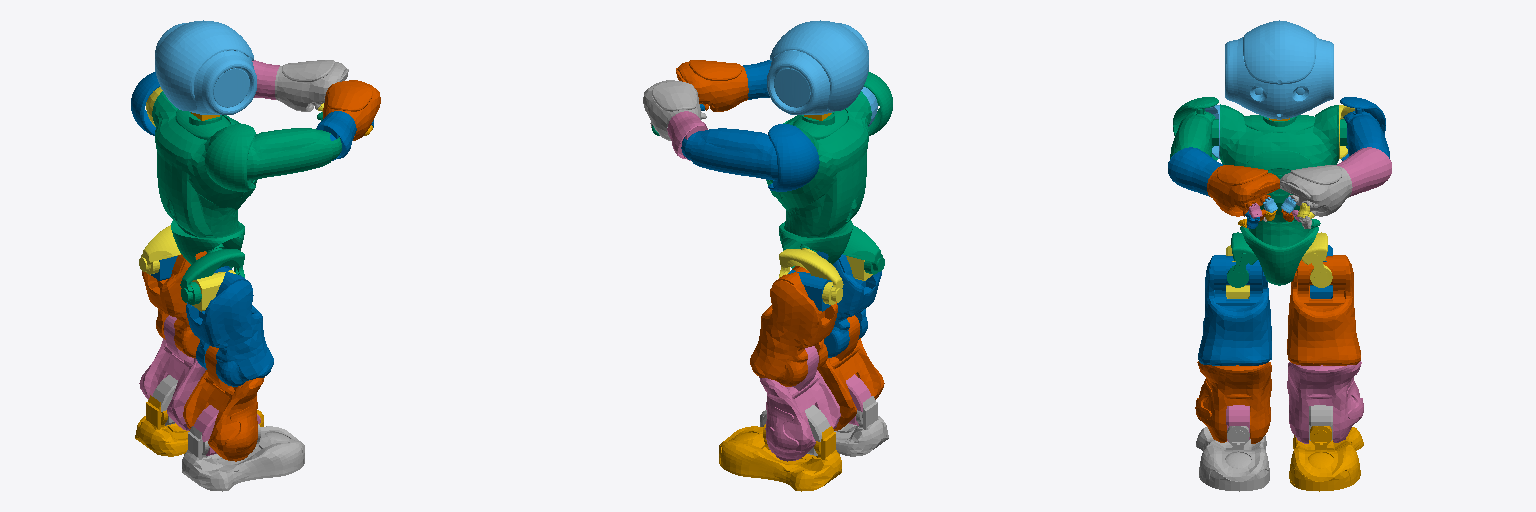
--- Facts derived from the render (not from the file) ---
3 views of the same robot in one strip: view 1: azimuth 30°, elevation 25°; view 2: azimuth 150°, elevation 25°; view 3: azimuth 270°, elevation 25° (orthographic).
Model NaoH25V50 with 79 links and 78 joints (42 revolute, 36 fixed), rooted at base_link, posed joints at zero except 2 at the middle of their limits (LElbowRoll = -0.7898, RElbowRoll = 0.7898).
Visible links, largest first — view 1: torso, Head, RBicep, RThigh, r_ankle, RTibia, LTibia, l_wrist, LThigh, r_wrist, l_ankle, RPelvis (+7 smaller); view 2: torso, Head, LBicep, LThigh, l_ankle, LTibia, RTibia, r_wrist, RThigh, l_wrist, r_ankle, LPelvis (+7 smaller); view 3: torso, Head, LThigh, RThigh, RTibia, LTibia, l_ankle, r_ankle, l_wrist, r_wrist, LBicep, RBicep (+5 smaller).
Boxes of the visible links, box(x1,y1,x2,y2) form: torso: box(152, 91, 256, 268); Head: box(155, 20, 256, 114); RBicep: box(205, 124, 341, 191); RThigh: box(186, 266, 273, 386); r_ankle: box(182, 424, 304, 491); RTibia: box(183, 346, 264, 461); LTibia: box(139, 315, 205, 430); l_wrist: box(275, 60, 348, 111); LThigh: box(142, 251, 206, 357); r_wrist: box(323, 80, 380, 140); l_ankle: box(135, 395, 263, 456); RPelvis: box(180, 248, 244, 304); torso: box(766, 91, 871, 268); Head: box(767, 20, 868, 114); LBicep: box(681, 124, 819, 191); LThigh: box(750, 266, 837, 386); l_ankle: box(719, 424, 841, 491); LTibia: box(759, 346, 840, 461); RTibia: box(818, 315, 884, 430); r_wrist: box(676, 60, 748, 111); RThigh: box(817, 251, 881, 357); l_wrist: box(643, 80, 700, 140); r_ankle: box(760, 396, 888, 456); LPelvis: box(779, 248, 843, 304); torso: box(1212, 104, 1347, 285); Head: box(1225, 20, 1333, 119); LThigh: box(1287, 255, 1360, 365); RThigh: box(1198, 255, 1271, 365); RTibia: box(1195, 361, 1271, 443); LTibia: box(1287, 361, 1363, 443); l_ankle: box(1289, 426, 1363, 491); r_ankle: box(1196, 426, 1269, 491); l_wrist: box(1280, 165, 1352, 216); r_wrist: box(1207, 165, 1279, 216); LBicep: box(1340, 97, 1389, 160); RBicep: box(1170, 97, 1218, 160).
Size in the robot's own frame: 0.2792 by 0.2719 by 0.5738 metres.
Meshes: 39 distinct files referenced, 39 mesh visuals loaded (39 Collada DAE).

URDF robot description (NaoH25V50):
<?xml version="1.0" ?>
<!-- =================================================================================== -->
<!-- |    This document was autogenerated by xacro from nao_robot.xacro                | -->
<!-- |    EDITING THIS FILE BY HAND IS NOT RECOMMENDED                                 | -->
<!-- =================================================================================== -->
<!--******************************************************************
 ****** File automatically generated by generate_urdf.py script ******
 *********************************************************************-->
<robot name="NaoH25V50" locomotion="bipedal" xmlns:xacro="http://www.ros.org/wiki/xacro">
  <joint name="HeadYaw" type="revolute">
    <parent link="torso"/>
    <child link="Neck"/>
    <origin rpy="0 0 0" xyz="0 0 0.1265"/>
    <axis xyz="0 0 1.0"/>
    <limit effort="1.547" lower="-2.08567" upper="2.08567" velocity="8.26797"/>
    <bow tags="gaze" rotation="z"/>
  </joint>
  <link name="Neck">
    <inertial>
      <mass value="0.07842"/>
      <inertia ixx="1.60324e-05" ixy="1.57e-09" ixz="3.16276e-09" iyy="1.70394e-05" iyz="-5.295e-08" izz="5.53372e-06"/>
      <origin rpy="0 0 0" xyz="-1e-05 0 -0.02742"/>
    </inertial>
    <visual>
      <geometry>
        <mesh filename="package://nao_meshes/meshes/V40/HeadYaw.dae" scale="1.0 1.0 1.0"/>
      </geometry>
      <origin rpy="0 0 0" xyz="0 0 0"/>
    </visual>
    <collision>
      <geometry>
        <mesh filename="package://nao_meshes/meshes/V40/HeadYaw_0.10.stl" scale="1.0 1.0 1.0"/>
      </geometry>
      <origin rpy="0 0 0" xyz="0 0 0"/>
    </collision>
  </link>
  <joint name="HeadPitch" type="revolute">
    <parent link="Neck"/>
    <child link="Head"/>
    <origin rpy="0 0 0" xyz="0 0 0"/>
    <axis xyz="0 1.0 0"/>
    <limit effort="1.532" lower="-0.671952" upper="0.514872" velocity="7.19407"/>
    <bow tags="gaze" rotation="y"/>
  </joint>
  <link name="Head">
    <inertial>
      <mass value="0.60533"/>
      <inertia ixx="0.000957766" ixy="8.78814e-06" ixz="5.33702e-06" iyy="0.000816836" iyz="-2.99579e-05" izz="0.000984976"/>
      <origin rpy="0 0 0" xyz="-0.00112 0 0.05258"/>
    </inertial>
    <visual>
      <geometry>
        <mesh filename="package://nao_meshes/meshes/V40/HeadPitch.dae" scale="1.0 1.0 1.0"/>
      </geometry>
      <origin rpy="0 0 0" xyz="0 0 0"/>
    </visual>
    <collision>
      <geometry>
        <mesh filename="package://nao_meshes/meshes/V40/HeadPitch_0.10.stl" scale="1.0 1.0 1.0"/>
      </geometry>
      <origin rpy="0 0 0" xyz="0 0 0"/>
    </collision>
  </link>
  <joint name="gaze_joint" type="fixed">
    <parent link="Head"/>
    <child link="gaze"/>
    <origin rpy="0 0 0" xyz="0.05871 0 0.06364"/>
  </joint>
  <link name="gaze"/>
  <joint name="LHipYawPitch" type="revolute">
    <parent link="torso"/>
    <child link="LPelvis"/>
    <origin rpy="0 0 0" xyz="0 0.05 -0.085"/>
    <axis xyz="0 0.707106 -0.707106"/>
    <limit effort="3.348" lower="-1.14529" upper="0.740718" velocity="4.16174"/>
  </joint>
  <link name="LPelvis">
    <inertial>
      <mass value="0.06981"/>
      <inertia ixx="2.3407e-05" ixy="1.07922e-06" ixz="-1.76003e-06" iyy="4.76355e-05" iyz="2.76058e-06" izz="4.97021e-05"/>
      <origin rpy="0 0 0" xyz="-0.00781 -0.01114 0.02661"/>
    </inertial>
    <visual>
      <geometry>
        <mesh filename="package://nao_meshes/meshes/V40/LHipYawPitch.dae" scale="1.0 1.0 1.0"/>
      </geometry>
      <origin rpy="0 0 0" xyz="0 0 0"/>
    </visual>
    <collision>
      <geometry>
        <mesh filename="package://nao_meshes/meshes/V40/LHipYawPitch_0.10.stl" scale="1.0 1.0 1.0"/>
      </geometry>
      <origin rpy="0 0 0" xyz="0 0 0"/>
    </collision>
  </link>
  <joint name="LHipRoll" type="revolute">
    <parent link="LPelvis"/>
    <child link="LHip"/>
    <origin rpy="0 0 0" xyz="0 0 0"/>
    <axis xyz="1.0 0 0"/>
    <limit effort="3.348" lower="-0.379435" upper="0.79046" velocity="4.16174"/>
  </joint>
  <link name="LHip">
    <inertial>
      <mass value="0.14053"/>
      <inertia ixx="2.38445e-05" ixy="-6.53605e-07" ixz="7.12893e-06" iyy="6.08246e-05" iyz="-2.14072e-07" izz="5.43691e-05"/>
      <origin rpy="0 0 0" xyz="-0.01549 0.00029 -0.00515"/>
    </inertial>
    <visual>
      <geometry>
        <mesh filename="package://nao_meshes/meshes/V40/LHipRoll.dae" scale="1.0 1.0 1.0"/>
      </geometry>
      <origin rpy="0 0 0" xyz="0 0 0"/>
    </visual>
    <collision>
      <geometry>
        <mesh filename="package://nao_meshes/meshes/V40/LHipRoll_0.10.stl" scale="1.0 1.0 1.0"/>
      </geometry>
      <origin rpy="0 0 0" xyz="0 0 0"/>
    </collision>
  </link>
  <joint name="LHipPitch" type="revolute">
    <parent link="LHip"/>
    <child link="LThigh"/>
    <origin rpy="0 0 0" xyz="0 0 0"/>
    <axis xyz="0 1.0 0"/>
    <limit effort="3.023" lower="-1.53589" upper="0.48398" velocity="6.40239"/>
  </joint>
  <link name="LThigh">
    <inertial>
      <mass value="0.38968"/>
      <inertia ixx="0.000509844" ixy="2.11296e-06" ixz="5.64129e-05" iyy="0.000465358" iyz="-7.91029e-06" izz="0.000301098"/>
      <origin rpy="0 0 0" xyz="0.00138 0.00221 -0.05373"/>
    </inertial>
    <visual>
      <geometry>
        <mesh filename="package://nao_meshes/meshes/V40/LHipPitch.dae" scale="1.0 1.0 1.0"/>
      </geometry>
      <origin rpy="0 0 0" xyz="0 0 0"/>
    </visual>
    <collision>
      <geometry>
        <mesh filename="package://nao_meshes/meshes/V40/LHipPitch_0.10.stl" scale="1.0 1.0 1.0"/>
      </geometry>
      <origin rpy="0 0 0" xyz="0 0 0"/>
    </collision>
  </link>
  <joint name="LKneePitch" type="revolute">
    <parent link="LThigh"/>
    <child link="LTibia"/>
    <origin rpy="0 0 0" xyz="0 0 -0.1"/>
    <axis xyz="0 1.0 0"/>
    <limit effort="3.023" lower="-0.0923279" upper="2.11255" velocity="6.40239"/>
  </joint>
  <link name="LTibia">
    <inertial>
      <mass value="0.30142"/>
      <inertia ixx="0.000446171" ixy="3.70584e-06" ixz="-3.09008e-05" iyy="0.000388084" iyz="6.01953e-06" izz="0.000185516"/>
      <origin rpy="0 0 0" xyz="0.00453 0.00225 -0.04936"/>
    </inertial>
    <visual>
      <geometry>
        <mesh filename="package://nao_meshes/meshes/V40/LKneePitch.dae" scale="1.0 1.0 1.0"/>
      </geometry>
      <origin rpy="0 0 0" xyz="0 0 0"/>
    </visual>
    <collision>
      <geometry>
        <mesh filename="package://nao_meshes/meshes/V40/LKneePitch_0.10.stl" scale="1.0 1.0 1.0"/>
      </geometry>
      <origin rpy="0 0 0" xyz="0 0 0"/>
    </collision>
  </link>
  <joint name="LAnklePitch" type="revolute">
    <parent link="LTibia"/>
    <child link="LAnklePitch"/>
    <origin rpy="0 0 0" xyz="0 0 -0.1029"/>
    <axis xyz="0 1.0 0"/>
    <limit effort="3.023" lower="-1.18944" upper="0.922581" velocity="6.40239"/>
  </joint>
  <link name="LAnklePitch">
    <inertial>
      <mass value="0.13416"/>
      <inertia ixx="3.22034e-05" ixy="-8.83212e-09" ixz="4.27549e-06" iyy="6.7943e-05" iyz="2.84849e-07" izz="5.48269e-05"/>
      <origin rpy="0 0 0" xyz="0.00045 0.00029 0.00685"/>
    </inertial>
    <visual>
      <geometry>
        <mesh filename="package://nao_meshes/meshes/V40/LAnklePitch.dae" scale="1.0 1.0 1.0"/>
      </geometry>
      <origin rpy="0 0 0" xyz="0 0 0"/>
    </visual>
    <collision>
      <geometry>
        <mesh filename="package://nao_meshes/meshes/V40/LAnklePitch_0.10.stl" scale="1.0 1.0 1.0"/>
      </geometry>
      <origin rpy="0 0 0" xyz="0 0 0"/>
    </collision>
  </link>
  <joint name="LAnkleRoll" type="revolute">
    <parent link="LAnklePitch"/>
    <child link="l_ankle"/>
    <origin rpy="0 0 0" xyz="0 0 0"/>
    <axis xyz="1.0 0 0"/>
    <limit effort="3.348" lower="-0.397761" upper="0.768992" velocity="4.16174"/>
  </joint>
  <link name="l_ankle" contact="foot">
    <inertial>
      <mass value="0.17184"/>
      <inertia ixx="8.72911e-05" ixy="8.71925e-06" ixz="-2.10563e-06" iyy="0.000353024" iyz="3.73459e-07" izz="0.000412846"/>
      <origin rpy="0 0 0" xyz="0.02542 0.0033 -0.03239"/>
    </inertial>
    <visual>
      <geometry>
        <mesh filename="package://nao_meshes/meshes/V40/LAnkleRoll.dae" scale="1.0 1.0 1.0"/>
      </geometry>
      <origin rpy="0 0 0" xyz="0 0 0"/>
    </visual>
    <collision>
      <geometry>
        <mesh filename="package://nao_meshes/meshes/V40/LAnkleRoll_0.10.stl" scale="1.0 1.0 1.0"/>
      </geometry>
      <origin rpy="0 0 0" xyz="0 0 0"/>
    </collision>
  </link>
  <joint name="LLeg_effector_fixedjoint" type="fixed">
    <parent link="l_ankle"/>
    <child link="l_sole"/>
    <origin rpy="0 0 0" xyz="0 0 -0.04511"/>
    <axis xyz="0 0 0"/>
  </joint>
  <link name="l_sole">
  	<bow tags="effector"/>
  </link>
  <joint name="RHipYawPitch" type="revolute">
    <parent link="torso"/>
    <child link="RPelvis"/>
    <origin rpy="0 0 0" xyz="0 -0.05 -0.085"/>
    <axis xyz="0 0.707106 0.707106"/>
    <limit effort="3.348" lower="-1.14529" upper="0.740718" velocity="4.16174"/>
    <mimic joint="LHipYawPitch" multiplier="1.0" offset="0"/>
  </joint>
  <link name="RPelvis">
    <inertial>
      <mass value="0.06981"/>
      <inertia ixx="3.18766e-05" ixy="-1.07152e-06" ixz="-1.77295e-06" iyy="5.18361e-05" iyz="-7.00664e-06" izz="5.39657e-05"/>
      <origin rpy="0 0 0" xyz="-0.00781 0.01114 0.02661"/>
    </inertial>
    <visual>
      <geometry>
        <mesh filename="package://nao_meshes/meshes/V40/RHipYawPitch.dae" scale="1.0 1.0 1.0"/>
      </geometry>
      <origin rpy="0 0 0" xyz="0 0 0"/>
    </visual>
    <collision>
      <geometry>
        <mesh filename="package://nao_meshes/meshes/V40/RHipYawPitch_0.10.stl" scale="1.0 1.0 1.0"/>
      </geometry>
      <origin rpy="0 0 0" xyz="0 0 0"/>
    </collision>
  </link>
  <joint name="RHipRoll" type="revolute">
    <parent link="RPelvis"/>
    <child link="RHip"/>
    <origin rpy="0 0 0" xyz="0 0 0"/>
    <axis xyz="1.0 0 0"/>
    <limit effort="3.348" lower="-0.79046" upper="0.379435" velocity="4.16174"/>
  </joint>
  <link name="RHip">
    <inertial>
      <mass value="0.14053"/>
      <inertia ixx="2.38475e-05" ixy="6.12085e-07" ixz="7.10235e-06" iyy="6.0824e-05" iyz="2.12392e-07" izz="5.43727e-05"/>
      <origin rpy="0 0 0" xyz="-0.01549 -0.00029 -0.00515"/>
    </inertial>
    <visual>
      <geometry>
        <mesh filename="package://nao_meshes/meshes/V40/RHipRoll.dae" scale="1.0 1.0 1.0"/>
      </geometry>
      <origin rpy="0 0 0" xyz="0 0 0"/>
    </visual>
    <collision>
      <geometry>
        <mesh filename="package://nao_meshes/meshes/V40/RHipRoll_0.10.stl" scale="1.0 1.0 1.0"/>
      </geometry>
      <origin rpy="0 0 0" xyz="0 0 0"/>
    </collision>
  </link>
  <joint name="RHipPitch" type="revolute">
    <parent link="RHip"/>
    <child link="RThigh"/>
    <origin rpy="0 0 0" xyz="0 0 0"/>
    <axis xyz="0 1.0 0"/>
    <limit effort="3.0226" lower="-1.53589" upper="0.48398" velocity="6.40239"/>
  </joint>
  <link name="RThigh">
    <inertial>
      <mass value="0.38968"/>
      <inertia ixx="0.000510607" ixy="-2.02799e-06" ixz="5.69893e-05" iyy="0.0004665" iyz="7.09563e-06" izz="0.000301333"/>
      <origin rpy="0 0 0" xyz="0.00138 -0.00221 -0.05373"/>
    </inertial>
    <visual>
      <geometry>
        <mesh filename="package://nao_meshes/meshes/V40/RHipPitch.dae" scale="1.0 1.0 1.0"/>
      </geometry>
      <origin rpy="0 0 0" xyz="0 0 0"/>
    </visual>
    <collision>
      <geometry>
        <mesh filename="package://nao_meshes/meshes/V40/RHipPitch_0.10.stl" scale="1.0 1.0 1.0"/>
      </geometry>
      <origin rpy="0 0 0" xyz="0 0 0"/>
    </collision>
  </link>
  <joint name="RKneePitch" type="revolute">
    <parent link="RThigh"/>
    <child link="RTibia"/>
    <origin rpy="0 0 0" xyz="0 0 -0.1"/>
    <axis xyz="0 1.0 0"/>
    <limit effort="3.0226" lower="-0.0923279" upper="2.11255" velocity="6.40239"/>
  </joint>
  <link name="RTibia">
    <inertial>
      <mass value="0.30142"/>
      <inertia ixx="0.000446921" ixy="-3.96872e-06" ixz="-3.94009e-05" iyy="0.000387711" iyz="-5.00034e-06" izz="0.000183741"/>
      <origin rpy="0 0 0" xyz="0.00453 -0.00225 -0.04936"/>
    </inertial>
    <visual>
      <geometry>
        <mesh filename="package://nao_meshes/meshes/V40/RKneePitch.dae" scale="1.0 1.0 1.0"/>
      </geometry>
      <origin rpy="0 0 0" xyz="0 0 0"/>
    </visual>
    <collision>
      <geometry>
        <mesh filename="package://nao_meshes/meshes/V40/RKneePitch_0.10.stl" scale="1.0 1.0 1.0"/>
      </geometry>
      <origin rpy="0 0 0" xyz="0 0 0"/>
    </collision>
  </link>
  <joint name="RAnklePitch" type="revolute">
    <parent link="RTibia"/>
    <child link="RAnklePitch"/>
    <origin rpy="0 0 0" xyz="0 0 -0.1029"/>
    <axis xyz="0 1.0 0"/>
    <limit effort="3.0226" lower="-1.1863" upper="0.932006" velocity="6.40239"/>
  </joint>
  <link name="RAnklePitch">
    <inertial>
      <mass value="0.13416"/>
      <inertia ixx="3.22017e-05" ixy="4.68321e-08" ixz="4.28821e-06" iyy="6.79885e-05" iyz="-2.71089e-07" izz="5.48747e-05"/>
      <origin rpy="0 0 0" xyz="0.00045 -0.00029 0.00685"/>
    </inertial>
    <visual>
      <geometry>
        <mesh filename="package://nao_meshes/meshes/V40/RAnklePitch.dae" scale="1.0 1.0 1.0"/>
      </geometry>
      <origin rpy="0 0 0" xyz="0 0 0"/>
    </visual>
    <collision>
      <geometry>
        <mesh filename="package://nao_meshes/meshes/V40/RAnklePitch_0.10.stl" scale="1.0 1.0 1.0"/>
      </geometry>
      <origin rpy="0 0 0" xyz="0 0 0"/>
    </collision>
  </link>
  <joint name="RAnkleRoll" type="revolute">
    <parent link="RAnklePitch"/>
    <child link="r_ankle"/>
    <origin rpy="0 0 0" xyz="0 0 0"/>
    <axis xyz="1.0 0 0"/>
    <limit effort="3.348" lower="-0.768992" upper="0.397761" velocity="4.16174"/>
  </joint>
  <link name="r_ankle" contact="foot">
    <inertial>
      <mass value="0.17184"/>
      <inertia ixx="8.71513e-05" ixy="-8.53992e-06" ixz="-2.35184e-06" iyy="0.000352156" iyz="-4.81708e-07" izz="0.000412125"/>
      <origin rpy="0 0 0" xyz="0.02542 -0.0033 -0.03239"/>
    </inertial>
    <visual>
      <geometry>
        <mesh filename="package://nao_meshes/meshes/V40/RAnkleRoll.dae" scale="1.0 1.0 1.0"/>
      </geometry>
      <origin rpy="0 0 0" xyz="0 0 0"/>
    </visual>
    <collision>
      <geometry>
        <mesh filename="package://nao_meshes/meshes/V40/RAnkleRoll_0.10.stl" scale="1.0 1.0 1.0"/>
      </geometry>
      <origin rpy="0 0 0" xyz="0 0 0"/>
    </collision>
  </link>
  <joint name="RLeg_effector_fixedjoint" type="fixed">
    <parent link="r_ankle"/>
    <child link="r_sole"/>
    <origin rpy="0 0 0" xyz="0 0 -0.04511"/>
    <axis xyz="0 0 0"/>
  </joint>
  <link name="r_sole">
  	<bow tags="effector"/>
  </link>
  <link name="base_link"/>
  <joint name="base_link_fixedjoint" type="fixed">
    <parent link="base_link"/>
    <child link="torso"/>
    <origin rpy="0 0 0" xyz="0 0 0"/>
    <axis xyz="0 0 0"/>
  </joint>
  <link name="torso">
    <inertial>
      <mass value="1.04956"/>
      <inertia ixx="0.00308361" ixy="1.43116e-05" ixz="-3.30211e-05" iyy="0.0028835" iyz="-2.70793e-05" izz="0.0015924"/>
      <origin rpy="0 0 0" xyz="-0.00413 0 0.04342"/>
    </inertial>
    <visual>
      <geometry>
        <mesh filename="package://nao_meshes/meshes/V40/Torso.dae" scale="1.0 1.0 1.0"/>
      </geometry>
      <origin rpy="0 0 0" xyz="0 0 0"/>
    </visual>
    <collision>
      <geometry>
        <mesh filename="package://nao_meshes/meshes/V40/Torso_0.10.stl" scale="1.0 1.0 1.0"/>
      </geometry>
      <origin rpy="0 0 0" xyz="0 0 0"/>
    </collision>
  </link>
  <joint name="LShoulderPitch" type="revolute">
    <parent link="torso"/>
    <child link="LShoulder"/>
    <origin rpy="0 0 0" xyz="0 0.098 0.1"/>
    <axis xyz="0 1.0 0"/>
    <limit effort="1.329" lower="-2.08567" upper="2.08567" velocity="8.26797"/>
  </joint>
  <link name="LShoulder">
    <inertial>
      <mass value="0.09304"/>
      <inertia ixx="1.83025e-05" ixy="2.06011e-06" ixz="1.88776e-09" iyy="1.39005e-05" iyz="-3.66592e-07" izz="2.01862e-05"/>
      <origin rpy="0 0 0" xyz="-0.00165 -0.02663 0.00014"/>
    </inertial>
    <visual>
      <geometry>
        <mesh filename="package://nao_meshes/meshes/V40/LShoulderPitch.dae" scale="1.0 1.0 1.0"/>
      </geometry>
      <origin rpy="0 0 0" xyz="0 0 0"/>
    </visual>
    <collision>
      <geometry>
        <mesh filename="package://nao_meshes/meshes/V40/LShoulderPitch_0.10.stl" scale="1.0 1.0 1.0"/>
      </geometry>
      <origin rpy="0 0 0" xyz="0 0 0"/>
    </collision>
  </link>
  <joint name="LShoulderRoll" type="revolute">
    <parent link="LShoulder"/>
    <child link="LBicep"/>
    <origin rpy="0 0 0" xyz="0 0 0"/>
    <axis xyz="0 0 1.0"/>
    <limit effort="1.7835" lower="-0.314159" upper="1.32645" velocity="7.19407"/>
  </joint>
  <link name="LBicep">
    <inertial>
      <mass value="0.15777"/>
      <inertia ixx="8.7181e-05" ixy="-2.53381e-05" ixz="-1.4213e-05" iyy="0.000274712" iyz="4.71439e-07" izz="0.000241812"/>
      <origin rpy="0 0 0" xyz="0.02455 0.00563 0.0033"/>
    </inertial>
    <visual>
      <geometry>
        <mesh filename="package://nao_meshes/meshes/V40/LShoulderRoll.dae" scale="1.0 1.0 1.0"/>
      </geometry>
      <origin rpy="0 0 0" xyz="0 0 0"/>
    </visual>
    <collision>
      <geometry>
        <mesh filename="package://nao_meshes/meshes/V40/LShoulderRoll_0.10.stl" scale="1.0 1.0 1.0"/>
      </geometry>
      <origin rpy="0 0 0" xyz="0 0 0"/>
    </collision>
  </link>
  <joint name="LElbowYaw" type="revolute">
    <parent link="LBicep"/>
    <child link="LElbow"/>
    <origin rpy="0 0 0" xyz="0.105 0.015 0"/>
    <axis xyz="1.0 0 0"/>
    <limit effort="1.547" lower="-2.08567" upper="2.08567" velocity="8.26797"/>
  </joint>
  <link name="LElbow">
    <inertial>
      <mass value="0.06483"/>
      <inertia ixx="5.59588e-06" ixy="4.21e-09" ixz="2.92241e-07" iyy="2.66179e-05" iyz="-1.84e-09" izz="2.76294e-05"/>
      <origin rpy="0 0 0" xyz="-0.02744 0 -0.00014"/>
    </inertial>
  </link>
  <joint name="LElbowRoll" type="revolute">
    <parent link="LElbow"/>
    <child link="LForeArm"/>
    <origin rpy="0 0 0" xyz="0 0 0"/>
    <axis xyz="0 0 1.0"/>
    <limit effort="1.532" lower="-1.54462" upper="-0.0349066" velocity="7.19407"/>
  </joint>
  <link name="LForeArm">
    <inertial>
      <mass value="0.07761"/>
      <inertia ixx="2.46746e-05" ixy="3.23152e-06" ixz="1.58221e-06" iyy="3.83837e-05" iyz="1.39194e-07" izz="3.59708e-05"/>
      <origin rpy="0 0 0" xyz="0.02556 0.00281 0.00076"/>
    </inertial>
    <visual>
      <geometry>
        <mesh filename="package://nao_meshes/meshes/V40/LElbowRoll.dae" scale="1.0 1.0 1.0"/>
      </geometry>
      <origin rpy="0 0 0" xyz="0 0 0"/>
    </visual>
    <collision>
      <geometry>
        <mesh filename="package://nao_meshes/meshes/V40/LElbowRoll_0.10.stl" scale="1.0 1.0 1.0"/>
      </geometry>
      <origin rpy="0 0 0" xyz="0 0 0"/>
    </collision>
  </link>
  <joint name="LWristYaw" type="revolute">
    <parent link="LForeArm"/>
    <child link="l_wrist"/>
    <origin rpy="0 0 0" xyz="0.05595 0 0"/>
    <axis xyz="1.0 0 0"/>
    <limit effort="0.4075" lower="-1.82387" upper="1.82387" velocity="24.6229"/>
  </joint>
  <link name="l_wrist">
    <inertial>
      <mass value="0.18533"/>
      <inertia ixx="6.86477e-05" ixy="1.15465e-07" ixz="-2.87254e-06" iyy="0.000135756" iyz="2.67539e-06" izz="0.000133228"/>
      <origin rpy="0 0 0" xyz="0.03434 -0.00088 0.00308"/>
    </inertial>
    <visual>
      <geometry>
        <mesh filename="package://nao_meshes/meshes/V40/LWristYaw.dae" scale="1.0 1.0 1.0"/>
      </geometry>
      <origin rpy="0 0 0" xyz="0 0 0"/>
    </visual>
    <collision>
      <geometry>
        <mesh filename="package://nao_meshes/meshes/V40/LWristYaw_0.10.stl" scale="1.0 1.0 1.0"/>
      </geometry>
      <origin rpy="0 0 0" xyz="0 0 0"/>
    </collision>
    <bow tags="gripper"/>
  </link>
  <joint name="LHand" type="revolute">
    <parent link="l_wrist"/>
    <child link="l_gripper"/>
    <origin rpy="0 0 0" xyz="0.05775 0 -0.01231"/>
    <axis xyz="1.0 0 0"/>
    <limit effort="0.292" lower="0" upper="1.0" velocity="8.33"/>
  </joint>
  <link name="l_gripper">
    <inertial>
      <mass value="2e-06"/>
      <inertia ixx="1.1e-09" ixy="0" ixz="0" iyy="1.1e-09" iyz="0" izz="1.1e-09"/>
    </inertial>
  </link>
  <joint name="RShoulderPitch" type="revolute">
    <parent link="torso"/>
    <child link="RShoulder"/>
    <origin rpy="0 0 0" xyz="0 -0.098 0.1"/>
    <axis xyz="0 1.0 0"/>
    <limit effort="1.329" lower="-2.08567" upper="2.08567" velocity="8.26797"/>
  </joint>
  <link name="RShoulder">
    <inertial>
      <mass value="0.09304"/>
      <inertia ixx="1.83025e-05" ixy="-2.06011e-06" ixz="1.88776e-09" iyy="1.39005e-05" iyz="3.66592e-07" izz="2.01862e-05"/>
      <origin rpy="0 0 0" xyz="-0.00165 0.02663 0.00014"/>
    </inertial>
    <visual>
      <geometry>
        <mesh filename="package://nao_meshes/meshes/V40/RShoulderPitch.dae" scale="1.0 1.0 1.0"/>
      </geometry>
      <origin rpy="0 0 0" xyz="0 0 0"/>
    </visual>
    <collision>
      <geometry>
        <mesh filename="package://nao_meshes/meshes/V40/RShoulderPitch_0.10.stl" scale="1.0 1.0 1.0"/>
      </geometry>
      <origin rpy="0 0 0" xyz="0 0 0"/>
    </collision>
  </link>
  <joint name="RShoulderRoll" type="revolute">
    <parent link="RShoulder"/>
    <child link="RBicep"/>
    <origin rpy="0 0 0" xyz="0 0 0"/>
    <axis xyz="0 0 1.0"/>
    <limit effort="1.783" lower="-1.32645" upper="0.314159" velocity="7.19407"/>
  </joint>
  <link name="RBicep">
    <inertial>
      <mass value="0.15777"/>
      <inertia ixx="0.000103401" ixy="5.48849e-05" ixz="-1.32643e-05" iyy="0.00027077" iyz="9.16707e-06" izz="0.000254529"/>
      <origin rpy="0 0 0" xyz="0.02455 -0.00563 0.0033"/>
    </inertial>
    <visual>
      <geometry>
        <mesh filename="package://nao_meshes/meshes/V40/RShoulderRoll.dae" scale="1.0 1.0 1.0"/>
      </geometry>
      <origin rpy="0 0 0" xyz="0 0 0"/>
    </visual>
    <collision>
      <geometry>
        <mesh filename="package://nao_meshes/meshes/V40/RShoulderRoll_0.10.stl" scale="1.0 1.0 1.0"/>
      </geometry>
      <origin rpy="0 0 0" xyz="0 0 0"/>
    </collision>
  </link>
  <joint name="RElbowYaw" type="revolute">
    <parent link="RBicep"/>
    <child link="RElbow"/>
    <origin rpy="0 0 0" xyz="0.105 -0.015 0"/>
    <axis xyz="1.0 0 0"/>
    <limit effort="1.547" lower="-2.08567" upper="2.08567" velocity="8.26797"/>
  </joint>
  <link name="RElbow">
    <inertial>
      <mass value="0.06483"/>
      <inertia ixx="5.59588e-06" ixy="4.21e-09" ixz="2.92241e-07" iyy="2.66179e-05" iyz="-1.84e-09" izz="2.76294e-05"/>
      <origin rpy="0 0 0" xyz="-0.02744 0 -0.00014"/>
    </inertial>
  </link>
  <joint name="RElbowRoll" type="revolute">
    <parent link="RElbow"/>
    <child link="RForeArm"/>
    <origin rpy="0 0 0" xyz="0 0 0"/>
    <axis xyz="0 0 1.0"/>
    <limit effort="1.532" lower="0.0349066" upper="1.54462" velocity="7.19407"/>
  </joint>
  <link name="RForeArm">
    <inertial>
      <mass value="0.07761"/>
      <inertia ixx="2.47331e-05" ixy="-3.2418e-06" ixz="9.06451e-07" iyy="3.84719e-05" iyz="-1.38804e-07" izz="3.59319e-05"/>
      <origin rpy="0 0 0" xyz="0.02556 -0.00281 0.00076"/>
    </inertial>
    <visual>
      <geometry>
        <mesh filename="package://nao_meshes/meshes/V40/RElbowRoll.dae" scale="1.0 1.0 1.0"/>
      </geometry>
      <origin rpy="0 0 0" xyz="0 0 0"/>
    </visual>
    <collision>
      <geometry>
        <mesh filename="package://nao_meshes/meshes/V40/RElbowRoll_0.10.stl" scale="1.0 1.0 1.0"/>
      </geometry>
      <origin rpy="0 0 0" xyz="0 0 0"/>
    </collision>
  </link>
  <joint name="RWristYaw" type="revolute">
    <parent link="RForeArm"/>
    <child link="r_wrist"/>
    <origin rpy="0 0 0" xyz="0.05595 0 0"/>
    <axis xyz="1.0 0 0"/>
    <limit effort="0.4075" lower="-1.82387" upper="1.82387" velocity="24.6229"/>
  </joint>
  <link name="r_wrist">
    <inertial>
      <mass value="0.18533"/>
      <inertia ixx="6.86477e-05" ixy="1.13165e-05" ixz="-2.87254e-06" iyy="0.000135756" iyz="3.68003e-06" izz="0.000133228"/>
      <origin rpy="0 0 0" xyz="0.03434 0.00088 0.00308"/>
    </inertial>
    <visual>
      <geometry>
        <mesh filename="package://nao_meshes/meshes/V40/RWristYaw.dae" scale="1.0 1.0 1.0"/>
      </geometry>
      <origin rpy="0 0 0" xyz="0 0 0"/>
    </visual>
    <collision>
      <geometry>
        <mesh filename="package://nao_meshes/meshes/V40/RWristYaw_0.10.stl" scale="1.0 1.0 1.0"/>
      </geometry>
      <origin rpy="0 0 0" xyz="0 0 0"/>
    </collision>
  	<bow tags="gripper"/>
  </link>
  <joint name="RHand" type="revolute">
    <parent link="r_wrist"/>
    <child link="r_gripper"/>
    <origin rpy="0 0 0" xyz="0.05775 0 -0.01213"/>
    <axis xyz="1.0 0 0"/>
    <limit effort="0.292" lower="0" upper="1.0" velocity="8.33"/>
  </joint>
  <link name="r_gripper">
    <inertial>
      <mass value="2e-06"/>
      <inertia ixx="1.1e-09" ixy="0" ixz="0" iyy="1.1e-09" iyz="0" izz="1.1e-09"/>
    </inertial>
  </link>
  <link name="LFootBumperRight_frame"/>
  <joint name="LFoot/Bumper/Right_sensor_fixedjoint" type="fixed">
    <parent link="l_ankle"/>
    <child link="LFootBumperRight_frame"/>
    <origin rpy="0 0 0" xyz="0.0876 -0.014 -0.0353"/>
    <axis xyz="0 0 0"/>
  </joint>
  <link name="RFsrRL_frame">
    <collision>
      <geometry>
        <box size="0.01 0.01 0.005"/>
      </geometry>
      <origin rpy="0 0 0" xyz="0 0 0"/>
    </collision>
    <inertial>
      <mass value="2e-06"/>
      <inertia ixx="1.1e-09" ixy="0" ixz="0" iyy="1.1e-09" iyz="0" izz="1.1e-09"/>
    </inertial>
  </link>
  <joint name="RFoot/FSR/RearLeft_sensor_fixedjoint" type="fixed">
    <parent link="r_ankle"/>
    <child link="RFsrRL_frame"/>
    <origin rpy="0 0 0" xyz="-0.03025 0.0191 -0.04511"/>
    <axis xyz="0 0 0"/>
  </joint>
  <link name="CameraBottom_optical_frame"/>
  <joint name="CameraBottom_optical_frame_fixedjoint" type="fixed">
    <parent link="CameraBottom_frame"/>
    <child link="CameraBottom_optical_frame"/>
    <origin rpy="-1.57079632679 0 -1.57079632679" xyz="0 0 0"/>
  </joint>
  <link name="RFsrRR_frame">
    <collision>
      <geometry>
        <box size="0.01 0.01 0.005"/>
      </geometry>
      <origin rpy="0 0 0" xyz="0 0 0"/>
    </collision>
    <inertial>
      <mass value="2e-06"/>
      <inertia ixx="1.1e-09" ixy="0" ixz="0" iyy="1.1e-09" iyz="0" izz="1.1e-09"/>
    </inertial>
  </link>
  <joint name="RFoot/FSR/RearRight_sensor_fixedjoint" type="fixed">
    <parent link="r_ankle"/>
    <child link="RFsrRR_frame"/>
    <origin rpy="0 0 0" xyz="-0.02965 -0.0299 -0.04511"/>
    <axis xyz="0 0 0"/>
  </joint>
  <link name="LFsrFR_frame">
    <collision>
      <geometry>
        <box size="0.01 0.01 0.005"/>
      </geometry>
      <origin rpy="0 0 0" xyz="0 0 0"/>
    </collision>
    <inertial>
      <mass value="2e-06"/>
      <inertia ixx="1.1e-09" ixy="0" ixz="0" iyy="1.1e-09" iyz="0" izz="1.1e-09"/>
    </inertial>
  </link>
  <joint name="LFoot/FSR/FrontRight_sensor_fixedjoint" type="fixed">
    <parent link="l_ankle"/>
    <child link="LFsrFR_frame"/>
    <origin rpy="0 0 0" xyz="0.07025 -0.0231 -0.04511"/>
    <axis xyz="0 0 0"/>
  </joint>
  <link name="LHandTouchLeft_frame"/>
  <joint name="LHand/Touch/Left_sensor_fixedjoint" type="fixed">
    <parent link="l_wrist"/>
    <child link="LHandTouchLeft_frame"/>
    <origin rpy="0 0 1.5708" xyz="0.032 0.025 0.003"/>
    <axis xyz="0 0 0"/>
  </joint>
  <link name="RFootBumperRight_frame"/>
  <joint name="RFoot/Bumper/Right_sensor_fixedjoint" type="fixed">
    <parent link="r_ankle"/>
    <child link="RFootBumperRight_frame"/>
    <origin rpy="0 0 0" xyz="0.0876 -0.019 -0.0353"/>
    <axis xyz="0 0 0"/>
  </joint>
  <link name="RFsrFR_frame">
    <collision>
      <geometry>
        <box size="0.01 0.01 0.005"/>
      </geometry>
      <origin rpy="0 0 0" xyz="0 0 0"/>
    </collision>
    <inertial>
      <mass value="2e-06"/>
      <inertia ixx="1.1e-09" ixy="0" ixz="0" iyy="1.1e-09" iyz="0" izz="1.1e-09"/>
    </inertial>
  </link>
  <joint name="RFoot/FSR/FrontRight_sensor_fixedjoint" type="fixed">
    <parent link="r_ankle"/>
    <child link="RFsrFR_frame"/>
    <origin rpy="0 0 0" xyz="0.07025 -0.0299 -0.04511"/>
    <axis xyz="0 0 0"/>
  </joint>
  <link name="LFsrRR_frame">
    <collision>
      <geometry>
        <box size="0.01 0.01 0.005"/>
      </geometry>
      <origin rpy="0 0 0" xyz="0 0 0"/>
    </collision>
    <inertial>
      <mass value="2e-06"/>
      <inertia ixx="1.1e-09" ixy="0" ixz="0" iyy="1.1e-09" iyz="0" izz="1.1e-09"/>
    </inertial>
  </link>
  <joint name="LFoot/FSR/RearRight_sensor_fixedjoint" type="fixed">
    <parent link="l_ankle"/>
    <child link="LFsrRR_frame"/>
    <origin rpy="0 0 0" xyz="-0.02965 -0.0191 -0.04511"/>
    <axis xyz="0 0 0"/>
  </joint>
  <link name="ImuTorsoAccelerometer_frame"/>
  <joint name="Accelerometer_sensor_fixedjoint" type="fixed">
    <parent link="torso"/>
    <child link="ImuTorsoAccelerometer_frame"/>
    <origin rpy="0 0 0" xyz="-0.008 0.00606 0.027"/>
    <axis xyz="0 0 0"/>
  </joint>
  <link name="HeadTouchFront_frame"/>
  <joint name="Head/Touch/Front_sensor_fixedjoint" type="fixed">
    <parent link="Head"/>
    <child link="HeadTouchFront_frame"/>
    <origin rpy="0 -1.1861 0" xyz="0.0312 0 0.1014"/>
    <axis xyz="0 0 0"/>
  </joint>
  <link name="RFootBumperLeft_frame"/>
  <joint name="RFoot/Bumper/Left_sensor_fixedjoint" type="fixed">
    <parent link="r_ankle"/>
    <child link="RFootBumperLeft_frame"/>
    <origin rpy="0 0 0" xyz="0.0876 0.014 -0.0353"/>
    <axis xyz="0 0 0"/>
  </joint>
  <link name="RSonar_frame"/>
  <joint name="Sonar/Right_sensor_fixedjoint" type="fixed">
    <parent link="torso"/>
    <child link="RSonar_frame"/>
    <origin rpy="0.00478508 0.0436497 -0.392441" xyz="0.00558253 -0.0192068 0.0623853"/>
    <axis xyz="0 0 0"/>
  </joint>
  <link name="RHandTouchRight_frame"/>
  <joint name="RHand/Touch/Right_sensor_fixedjoint" type="fixed">
    <parent link="r_wrist"/>
    <child link="RHandTouchRight_frame"/>
    <origin rpy="0 0 -1.5708" xyz="0.035 -0.025 0.0035"/>
    <axis xyz="0 0 0"/>
  </joint>
  <link name="RHandTouchBack_frame"/>
  <joint name="RHand/Touch/Back_sensor_fixedjoint" type="fixed">
    <parent link="r_wrist"/>
    <child link="RHandTouchBack_frame"/>
    <origin rpy="3.14159 -1.5708 3.14159" xyz="0.038 0 0.025"/>
    <axis xyz="0 0 0"/>
  </joint>
  <link name="RFsrFL_frame">
    <collision>
      <geometry>
        <box size="0.01 0.01 0.005"/>
      </geometry>
      <origin rpy="0 0 0" xyz="0 0 0"/>
    </collision>
    <inertial>
      <mass value="2e-06"/>
      <inertia ixx="1.1e-09" ixy="0" ixz="0" iyy="1.1e-09" iyz="0" izz="1.1e-09"/>
    </inertial>
  </link>
  <joint name="RFoot/FSR/FrontLeft_sensor_fixedjoint" type="fixed">
    <parent link="r_ankle"/>
    <child link="RFsrFL_frame"/>
    <origin rpy="0 0 0" xyz="0.07025 0.0231 -0.04511"/>
    <axis xyz="0 0 0"/>
  </joint>
  <link name="LSonar_frame"/>
  <joint name="Sonar/Left_sensor_fixedjoint" type="fixed">
    <parent link="torso"/>
    <child link="LSonar_frame"/>
    <origin rpy="-0.00478508 0.0436497 0.392441" xyz="0.00558253 0.0192068 0.0623853"/>
    <axis xyz="0 0 0"/>
  </joint>
  <link name="LFsrFL_frame">
    <collision>
      <geometry>
        <box size="0.01 0.01 0.005"/>
      </geometry>
      <origin rpy="0 0 0" xyz="0 0 0"/>
    </collision>
    <inertial>
      <mass value="2e-06"/>
      <inertia ixx="1.1e-09" ixy="0" ixz="0" iyy="1.1e-09" iyz="0" izz="1.1e-09"/>
    </inertial>
  </link>
  <joint name="LFoot/FSR/FrontLeft_sensor_fixedjoint" type="fixed">
    <parent link="l_ankle"/>
    <child link="LFsrFL_frame"/>
    <origin rpy="0 0 0" xyz="0.07025 0.0299 -0.04511"/>
    <axis xyz="0 0 0"/>
  </joint>
  <link name="LFsrRL_frame">
    <collision>
      <geometry>
        <box size="0.01 0.01 0.005"/>
      </geometry>
      <origin rpy="0 0 0" xyz="0 0 0"/>
    </collision>
    <inertial>
      <mass value="2e-06"/>
      <inertia ixx="1.1e-09" ixy="0" ixz="0" iyy="1.1e-09" iyz="0" izz="1.1e-09"/>
    </inertial>
  </link>
  <joint name="LFoot/FSR/RearLeft_sensor_fixedjoint" type="fixed">
    <parent link="l_ankle"/>
    <child link="LFsrRL_frame"/>
    <origin rpy="0 0 0" xyz="-0.03025 0.0299 -0.04511"/>
    <axis xyz="0 0 0"/>
  </joint>
  <link name="RHandTouchLeft_frame"/>
  <joint name="RHand/Touch/Left_sensor_fixedjoint" type="fixed">
    <parent link="r_wrist"/>
    <child link="RHandTouchLeft_frame"/>
    <origin rpy="0 0 1.5708" xyz="0.032 0.025 0.003"/>
    <axis xyz="0 0 0"/>
  </joint>
  <link name="CameraBottom_frame">
  	<bow tags="effector"/>
  </link>
  <joint name="CameraBottom_sensor_fixedjoint" type="fixed">
    <parent link="Head"/>
    <child link="CameraBottom_frame"/>
    <origin rpy="0 0.692896 0" xyz="0.05071 0 0.01774"/>
    <axis xyz="0 0 0"/>
  </joint>
  <link name="CameraTop_frame">
  	<bow tags="effector"/>
  </link>
  <joint name="CameraTop_sensor_fixedjoint" type="fixed">
    <parent link="Head"/>
    <child link="CameraTop_frame"/>
    <origin rpy="0 0.0209435 0" xyz="0.05871 0 0.06364"/>
    <axis xyz="0 0 0"/>
  </joint>
  <link name="CameraTop_optical_frame"/>
  <joint name="CameraTop_optical_frame_fixedjoint" type="fixed">
    <parent link="CameraTop_frame"/>
    <child link="CameraTop_optical_frame"/>
    <origin rpy="-1.57079632679 0 -1.57079632679" xyz="0 0 0"/>
  </joint>
  <link name="LHandTouchBack_frame"/>
  <joint name="LHand/Touch/Back_sensor_fixedjoint" type="fixed">
    <parent link="l_wrist"/>
    <child link="LHandTouchBack_frame"/>
    <origin rpy="3.14159 -1.5708 3.14159" xyz="0.038 0 0.025"/>
    <axis xyz="0 0 0"/>
  </joint>
  <link name="LInfraRed_frame"/>
  <joint name="InfraredL_sensor_fixedjoint" type="fixed">
    <parent link="Head"/>
    <child link="LInfraRed_frame"/>
    <origin rpy="0 0 0" xyz="0.0441 0.0257 0.0466"/>
    <axis xyz="0 0 0"/>
  </joint>
  <link name="ImuTorsoGyrometer_frame"/>
  <joint name="Gyrometer_sensor_fixedjoint" type="fixed">
    <parent link="torso"/>
    <child link="ImuTorsoGyrometer_frame"/>
    <origin rpy="0 0 0" xyz="-0.008 0.006 0.029"/>
    <axis xyz="0 0 0"/>
  </joint>
  <link name="HeadTouchRear_frame"/>
  <joint name="Head/Touch/Rear_sensor_fixedjoint" type="fixed">
    <parent link="Head"/>
    <child link="HeadTouchRear_frame"/>
    <origin rpy="3.14159 -1.33319 -3.14159" xyz="-0.0257 0 0.1045"/>
    <axis xyz="0 0 0"/>
  </joint>
  <link name="HeadTouchMiddle_frame"/>
  <joint name="Head/Touch/Middle_sensor_fixedjoint" type="fixed">
    <parent link="Head"/>
    <child link="HeadTouchMiddle_frame"/>
    <origin rpy="3.14159 -1.57079 -3.14159" xyz="0.001 0 0.1099"/>
    <axis xyz="0 0 0"/>
  </joint>
  <link name="RInfraRed_frame"/>
  <joint name="InfraredR_sensor_fixedjoint" type="fixed">
    <parent link="Head"/>
    <child link="RInfraRed_frame"/>
    <origin rpy="0 0 0" xyz="0.0441 -0.0257 0.0466"/>
    <axis xyz="0 0 0"/>
  </joint>
  <link name="ChestButton_frame"/>
  <joint name="ChestBoard/Button_sensor_fixedjoint" type="fixed">
    <parent link="torso"/>
    <child link="ChestButton_frame"/>
    <origin rpy="0 0 0" xyz="0.049871 0.001588 0.055163"/>
    <axis xyz="0 0 0"/>
  </joint>
  <link name="LFootBumperLeft_frame"/>
  <joint name="LFoot/Bumper/Left_sensor_fixedjoint" type="fixed">
    <parent link="l_ankle"/>
    <child link="LFootBumperLeft_frame"/>
    <origin rpy="0 0 0" xyz="0.0876 0.019 -0.0353"/>
    <axis xyz="0 0 0"/>
  </joint>
  <link name="LHandTouchRight_frame"/>
  <joint name="LHand/Touch/Right_sensor_fixedjoint" type="fixed">
    <parent link="l_wrist"/>
    <child link="LHandTouchRight_frame"/>
    <origin rpy="0 0 -1.5708" xyz="0.035 -0.025 0.0035"/>
    <axis xyz="0 0 0"/>
  </joint>
  <link name="RFinger13_link">
    <inertial>
      <mass value="2e-06"/>
      <inertia ixx="1.1e-09" ixy="0" ixz="0" iyy="1.1e-09" iyz="0" izz="1.1e-09"/>
    </inertial>
    <visual>
      <geometry>
        <mesh filename="package://nao_meshes/meshes/V40/RFinger13.dae" scale="1.0 1.0 1.0"/>
      </geometry>
      <origin rpy="-1.5708 0 0" xyz="0 0 0"/>
    </visual>
    <collision>
      <geometry>
        <mesh filename="package://nao_meshes/meshes/V40/RFinger13_0.10.stl" scale="1.0 1.0 1.0"/>
      </geometry>
      <origin rpy="-1.5708 0 0" xyz="0 0 0"/>
    </collision>
    <bow tags="effector"/>
  </link>
  <joint name="RFinger13" type="revolute">
    <parent link="RFinger12_link"/>
    <child link="RFinger13_link"/>
    <origin rpy="0 0 -0.999899" xyz="0.01436 0 0"/>
    <axis xyz="0 0 1.0"/>
    <mimic joint="RHand" multiplier="0.999899" offset="0"/>
  </joint>
  <link name="RFinger12_link">
    <inertial>
      <mass value="2e-06"/>
      <inertia ixx="1.1e-09" ixy="0" ixz="0" iyy="1.1e-09" iyz="0" izz="1.1e-09"/>
    </inertial>
    <visual>
      <geometry>
        <mesh filename="package://nao_meshes/meshes/V40/RFinger12.dae" scale="1.0 1.0 1.0"/>
      </geometry>
      <origin rpy="-1.5708 0 0" xyz="0 0 0"/>
    </visual>
    <collision>
      <geometry>
        <mesh filename="package://nao_meshes/meshes/V40/RFinger12_0.10.stl" scale="1.0 1.0 1.0"/>
      </geometry>
      <origin rpy="-1.5708 0 0" xyz="0 0 0"/>
    </collision>
  </link>
  <joint name="RFinger12" type="revolute">
    <parent link="RFinger11_link"/>
    <child link="RFinger12_link"/>
    <origin rpy="0 0 -0.999899" xyz="0.01436 0 0"/>
    <axis xyz="0 0 1.0"/>
    <mimic joint="RHand" multiplier="0.999899" offset="0"/>
  </joint>
  <link name="LFinger21_link">
    <inertial>
      <mass value="2e-06"/>
      <inertia ixx="1.1e-09" ixy="0" ixz="0" iyy="1.1e-09" iyz="0" izz="1.1e-09"/>
    </inertial>
    <visual>
      <geometry>
        <mesh filename="package://nao_meshes/meshes/V40/LFinger21.dae" scale="1.0 1.0 1.0"/>
      </geometry>
      <origin rpy="-1.5708 0 0" xyz="0 0 0"/>
    </visual>
    <collision>
      <geometry>
        <mesh filename="package://nao_meshes/meshes/V40/LFinger21_0.10.stl" scale="1.0 1.0 1.0"/>
      </geometry>
      <origin rpy="-1.5708 0 0" xyz="0 0 0"/>
    </collision>
  </link>
  <joint name="LFinger21" type="revolute">
    <parent link="l_wrist"/>
    <child link="LFinger21_link"/>
    <origin rpy="1.25539 0.976662 -0.264067" xyz="0.06907 -0.01157 -0.00304"/>
    <axis xyz="0 0 1.0"/>
    <mimic joint="LHand" multiplier="0.999899" offset="0"/>
  </joint>
  <link name="LFinger13_link">
    <inertial>
      <mass value="2e-06"/>
      <inertia ixx="1.1e-09" ixy="0" ixz="0" iyy="1.1e-09" iyz="0" izz="1.1e-09"/>
    </inertial>
    <visual>
      <geometry>
        <mesh filename="package://nao_meshes/meshes/V40/LFinger13.dae" scale="1.0 1.0 1.0"/>
      </geometry>
      <origin rpy="-1.5708 0 0" xyz="0 0 0"/>
    </visual>
    <collision>
      <geometry>
        <mesh filename="package://nao_meshes/meshes/V40/LFinger13_0.10.stl" scale="1.0 1.0 1.0"/>
      </geometry>
      <origin rpy="-1.5708 0 0" xyz="0 0 0"/>
    </collision>
    <bow tags="effector"/>
  </link>
  <joint name="LFinger13" type="revolute">
    <parent link="LFinger12_link"/>
    <child link="LFinger13_link"/>
    <origin rpy="0 0 -0.999899" xyz="0.01436 0 0"/>
    <axis xyz="0 0 1.0"/>
    <mimic joint="LHand" multiplier="0.999899" offset="0"/>
  </joint>
  <link name="LFinger11_link">
    <inertial>
      <mass value="2e-06"/>
      <inertia ixx="1.1e-09" ixy="0" ixz="0" iyy="1.1e-09" iyz="0" izz="1.1e-09"/>
    </inertial>
    <visual>
      <geometry>
        <mesh filename="package://nao_meshes/meshes/V40/LFinger11.dae" scale="1.0 1.0 1.0"/>
      </geometry>
      <origin rpy="-1.5708 0 0" xyz="0 0 0"/>
    </visual>
    <collision>
      <geometry>
        <mesh filename="package://nao_meshes/meshes/V40/LFinger11_0.10.stl" scale="1.0 1.0 1.0"/>
      </geometry>
      <origin rpy="-1.5708  0 0" xyz="0 0 0"/>
    </collision>
  </link>
  <joint name="LFinger11" type="revolute">
    <parent link="l_wrist"/>
    <child link="LFinger11_link"/>
    <origin rpy="1.8862 0.976662 0.264067" xyz="0.06907 0.01157 -0.00304"/>
    <axis xyz="0 0 1.0"/>
    <mimic joint="LHand" multiplier="0.999899" offset="0"/>
  </joint>
  <link name="RFinger22_link">
    <inertial>
      <mass value="2e-06"/>
      <inertia ixx="1.1e-09" ixy="0" ixz="0" iyy="1.1e-09" iyz="0" izz="1.1e-09"/>
    </inertial>
    <visual>
      <geometry>
        <mesh filename="package://nao_meshes/meshes/V40/RFinger22.dae" scale="1.0 1.0 1.0"/>
      </geometry>
      <origin rpy="-1.5708 0 0" xyz="0 0 0"/>
    </visual>
    <collision>
      <geometry>
        <mesh filename="package://nao_meshes/meshes/V40/RFinger22_0.10.stl" scale="1.0 1.0 1.0"/>
      </geometry>
      <origin rpy="-1.5708 0 0" xyz="0 0 0"/>
    </collision>
  </link>
  <joint name="RFinger22" type="revolute">
    <parent link="RFinger21_link"/>
    <child link="RFinger22_link"/>
    <origin rpy="0 0 -0.999899" xyz="0.01436 0 0"/>
    <axis xyz="0 0 1.0"/>
    <mimic joint="RHand" multiplier="0.999899" offset="0"/>
  </joint>
  <link name="LFinger22_link">
    <inertial>
      <mass value="2e-06"/>
      <inertia ixx="1.1e-09" ixy="0" ixz="0" iyy="1.1e-09" iyz="0" izz="1.1e-09"/>
    </inertial>
    <visual>
      <geometry>
        <mesh filename="package://nao_meshes/meshes/V40/LFinger22.dae" scale="1.0 1.0 1.0"/>
      </geometry>
      <origin rpy="-1.5708 0 0" xyz="0 0 0"/>
    </visual>
    <collision>
      <geometry>
        <mesh filename="package://nao_meshes/meshes/V40/LFinger22_0.10.stl" scale="1.0 1.0 1.0"/>
      </geometry>
      <origin rpy="-1.5708 0 0" xyz="0 0 0"/>
    </collision>
  </link>
  <joint name="LFinger22" type="revolute">
    <parent link="LFinger21_link"/>
    <child link="LFinger22_link"/>
    <origin rpy="0 0 -0.999899" xyz="0.01436 0 0"/>
    <axis xyz="0 0 1.0"/>
    <mimic joint="LHand" multiplier="0.999899" offset="0"/>
  </joint>
  <link name="RFinger21_link">
    <inertial>
      <mass value="2e-06"/>
      <inertia ixx="1.1e-09" ixy="0" ixz="0" iyy="1.1e-09" iyz="0" izz="1.1e-09"/>
    </inertial>
    <visual>
      <geometry>
        <mesh filename="package://nao_meshes/meshes/V40/RFinger21.dae" scale="1.0 1.0 1.0"/>
      </geometry>
      <origin rpy="-1.5708 0 0" xyz="0 0 0"/>
    </visual>
    <collision>
      <geometry>
        <mesh filename="package://nao_meshes/meshes/V40/RFinger21_0.10.stl" scale="1.0 1.0 1.0"/>
      </geometry>
      <origin rpy="-1.5708 0 0" xyz="0 0 0"/>
    </collision>
  </link>
  <joint name="RFinger21" type="revolute">
    <parent link="r_wrist"/>
    <child link="RFinger21_link"/>
    <origin rpy="1.25539 0.976662 -0.264067" xyz="0.06907 -0.01157 -0.00304"/>
    <axis xyz="0 0 1.0"/>
    <mimic joint="RHand" multiplier="0.999899" offset="0"/>
  </joint>
  <link name="LFinger12_link">
    <inertial>
      <mass value="2e-06"/>
      <inertia ixx="1.1e-09" ixy="0" ixz="0" iyy="1.1e-09" iyz="0" izz="1.1e-09"/>
    </inertial>
    <visual>
      <geometry>
        <mesh filename="package://nao_meshes/meshes/V40/LFinger12.dae" scale="1.0 1.0 1.0"/>
      </geometry>
      <origin rpy="-1.5708 0 0" xyz="0 0 0"/>
    </visual>
    <collision>
      <geometry>
        <mesh filename="package://nao_meshes/meshes/V40/LFinger12_0.10.stl" scale="1.0 1.0 1.0"/>
      </geometry>
      <origin rpy="-1.5708 0 0" xyz="0 0 0"/>
    </collision>
  </link>
  <joint name="LFinger12" type="revolute">
    <parent link="LFinger11_link"/>
    <child link="LFinger12_link"/>
    <origin rpy="0 0 -0.999899" xyz="0.01436 0 0"/>
    <axis xyz="0 0 1.0"/>
    <mimic joint="LHand" multiplier="0.999899" offset="0"/>
  </joint>
  <link name="RFinger23_link">
    <inertial>
      <mass value="2e-06"/>
      <inertia ixx="1.1e-09" ixy="0" ixz="0" iyy="1.1e-09" iyz="0" izz="1.1e-09"/>
    </inertial>
    <visual>
      <geometry>
        <mesh filename="package://nao_meshes/meshes/V40/RFinger23.dae" scale="1.0 1.0 1.0"/>
      </geometry>
      <origin rpy="-1.5708 0 0" xyz="0 0 0"/>
    </visual>
    <collision>
      <geometry>
        <mesh filename="package://nao_meshes/meshes/V40/RFinger23_0.10.stl" scale="1.0 1.0 1.0"/>
      </geometry>
      <origin rpy="-1.5708 0 0" xyz="0 0 0"/>
    </collision>
    <bow tags="effector"/>
  </link>
  <joint name="RFinger23" type="revolute">
    <parent link="RFinger22_link"/>
    <child link="RFinger23_link"/>
    <origin rpy="0 0 -0.999899" xyz="0.01436 0 0"/>
    <axis xyz="0 0 1.0"/>
    <mimic joint="RHand" multiplier="0.999899" offset="0"/>
  </joint>
  <link name="RFinger11_link">
    <inertial>
      <mass value="2e-06"/>
      <inertia ixx="1.1e-09" ixy="0" ixz="0" iyy="1.1e-09" iyz="0" izz="1.1e-09"/>
    </inertial>
    <visual>
      <geometry>
        <mesh filename="package://nao_meshes/meshes/V40/RFinger11.dae" scale="1.0 1.0 1.0"/>
      </geometry>
      <origin rpy="-1.5708 0 0" xyz="0 0 0"/>
    </visual>
    <collision>
      <geometry>
        <mesh filename="package://nao_meshes/meshes/V40/RFinger11_0.10.stl" scale="1.0 1.0 1.0"/>
      </geometry>
      <origin rpy="-1.5708 0 0" xyz="0 0 0"/>
    </collision>
    <bow tags="effector"/>
  </link>
  <joint name="RFinger11" type="revolute">
    <parent link="r_wrist"/>
    <child link="RFinger11_link"/>
    <origin rpy="1.8862 0.976662 0.264067" xyz="0.06907 0.01157 -0.00304"/>
    <axis xyz="0 0 1.0"/>
    <mimic joint="RHand" multiplier="0.999899" offset="0"/>
  </joint>
  <link name="LFinger23_link">
    <inertial>
      <mass value="2e-06"/>
      <inertia ixx="1.1e-09" ixy="0" ixz="0" iyy="1.1e-09" iyz="0" izz="1.1e-09"/>
    </inertial>
    <visual>
      <geometry>
        <mesh filename="package://nao_meshes/meshes/V40/LFinger23.dae" scale="1.0 1.0 1.0"/>
      </geometry>
      <origin rpy="-1.5708 0 0" xyz="0 0 0"/>
    </visual>
    <collision>
      <geometry>
        <mesh filename="package://nao_meshes/meshes/V40/LFinger23_0.10.stl" scale="1.0 1.0 1.0"/>
      </geometry>
      <origin rpy="-1.5708 0 0" xyz="0 0 0"/>
    </collision>
    <bow tags="effector"/>
  </link>
  <joint name="LFinger23" type="revolute">
    <parent link="LFinger22_link"/>
    <child link="LFinger23_link"/>
    <origin rpy="0 0 -0.999899" xyz="0.01436 0 0"/>
    <axis xyz="0 0 1.0"/>
    <mimic joint="LHand" multiplier="0.999899" offset="0"/>
  </joint>
  <link name="LThumb1_link">
    <inertial>
      <mass value="2e-06"/>
      <inertia ixx="1.1e-09" ixy="0" ixz="0" iyy="1.1e-09" iyz="0" izz="1.1e-09"/>
    </inertial>
    <visual>
      <geometry>
        <mesh filename="package://nao_meshes/meshes/V40/LThumb1.dae" scale="1.0 1.0 1.0"/>
      </geometry>
      <origin rpy="1.5708 0 -0.999899" xyz="0 0 0"/>
    </visual>
    <collision>
      <geometry>
        <mesh filename="package://nao_meshes/meshes/V40/LThumb1_0.10.stl" scale="1.0 1.0 1.0"/>
      </geometry>
      <origin rpy="1.5708 0 -0.999899" xyz="0 0 0"/>
    </collision>
  </link>
  <joint name="LThumb1" type="revolute">
    <parent link="l_wrist"/>
    <child link="LThumb1_link"/>
    <origin rpy="-1.5708 0.0472984 -3.26826e-08" xyz="0.04895 0 -0.02638"/>
    <axis xyz="0 0 1.0"/>
    <mimic joint="LHand" multiplier="0.999899" offset="0"/>
  </joint>
  <link name="RThumb1_link">
    <inertial>
      <mass value="2e-06"/>
      <inertia ixx="1.1e-09" ixy="0" ixz="0" iyy="1.1e-09" iyz="0" izz="1.1e-09"/>
    </inertial>
    <visual>
      <geometry>
        <mesh filename="package://nao_meshes/meshes/V40/RThumb1.dae" scale="1.0 1.0 1.0"/>
      </geometry>
      <origin rpy="1.5708 0 -0.999899" xyz="0 0 0"/>
    </visual>
    <collision>
      <geometry>
        <mesh filename="package://nao_meshes/meshes/V40/RThumb1_0.10.stl" scale="1.0 1.0 1.0"/>
      </geometry>
      <origin rpy="1.5708 0 -0.999899" xyz="0 0 0"/>
    </collision>
  </link>
  <joint name="RThumb1" type="revolute">
    <parent link="r_wrist"/>
    <child link="RThumb1_link"/>
    <origin rpy="-1.5708 0.0472984 -3.26826e-08" xyz="0.04895 0 -0.02638"/>
    <axis xyz="0 0 1.0"/>
    <mimic joint="RHand" multiplier="0.999899" offset="0"/>
  </joint>
  <link name="RThumb2_link">
    <inertial>
      <mass value="2e-06"/>
      <inertia ixx="1.1e-09" ixy="0" ixz="0" iyy="1.1e-09" iyz="0" izz="1.1e-09"/>
    </inertial>
    <visual>
      <geometry>
        <mesh filename="package://nao_meshes/meshes/V40/RThumb2.dae" scale="1.0 1.0 1.0"/>
      </geometry>
      <origin rpy="1.5708 0 -0.999899" xyz="0 0 0"/>
    </visual>
    <collision>
      <geometry>
        <mesh filename="package://nao_meshes/meshes/V40/RThumb2_0.10.stl" scale="1.0 1.0 1.0"/>
      </geometry>
      <origin rpy="1.5708 0 -0.999899" xyz="0 0 0"/>
    </collision>
    <bow tags="effector"/>
  </link>
  <joint name="RThumb2" type="revolute">
    <parent link="RThumb1_link"/>
    <child link="RThumb2_link"/>
    <origin rpy="0 0 -0.999899" xyz="0.01436 0 0"/>
    <axis xyz="0 0 1.0"/>
    <mimic joint="RHand" multiplier="0.999899" offset="0"/>
  </joint>
  <link name="LThumb2_link">
    <inertial>
      <mass value="2e-06"/>
      <inertia ixx="1.1e-09" ixy="0" ixz="0" iyy="1.1e-09" iyz="0" izz="1.1e-09"/>
    </inertial>
    <visual>
      <geometry>
        <mesh filename="package://nao_meshes/meshes/V40/LThumb2.dae" scale="1.0 1.0 1.0"/>
      </geometry>
      <origin rpy="1.5708 0 -0.999899" xyz="0 0 0"/>
    </visual>
    <collision>
      <geometry>
        <mesh filename="package://nao_meshes/meshes/V40/LThumb2_0.10.stl" scale="1.0 1.0 1.0"/>
      </geometry>
      <origin rpy="1.5708 0 -0.999899" xyz="0 0 0"/>
    </collision>
    <bow tags="effector"/>
  </link>
  <joint name="LThumb2" type="revolute">
    <parent link="LThumb1_link"/>
    <child link="LThumb2_link"/>
    <origin rpy="0 0 -0.999899" xyz="0.01436 0 0"/>
    <axis xyz="0 0 1.0"/>
    <mimic joint="LHand" multiplier="0.999899" offset="0"/>
  </joint>
  <!-- GAZEBO ROS CONTROL AND IMU PLUGIN -->

   <gazebo reference="ImuTorsoAccelerometer_frame">
    <sensor name="TorsoIMU" type="imu">
      <update_rate>20.0</update_rate>
      <imu>
        <noise>
          <type>gaussian</type>
          <mean>0.0</mean>
          <stddev>0.01</stddev>
        </noise>
      </imu>
    </sensor>
  </gazebo>

  <gazebo>
    <plugin filename="libgazebo_ros_control.so" name="gazebo_ros_control">
      <robotNamespace>/nao_dcm</robotNamespace>
      <robotSimType>gazebo_ros_control/DefaultRobotHWSim</robotSimType>
    </plugin>
    <!-- Mimic joints through plugin develop by costashatz based on implementation by Goncalo Cabrita -->
    <plugin filename="libroboticsgroup_gazebo_mimic_joint_plugin.so" name="mimic_hipyawpitch">
      <joint>LHipYawPitch</joint>
      <mimicJoint>RHipYawPitch</mimicJoint>
      <multiplier>1.0</multiplier>
      <offset>0.0</offset>
    </plugin>
    <plugin filename="libroboticsgroup_gazebo_mimic_joint_plugin.so" name="mimic_LFinger11">
      <joint>LHand</joint>
      <mimicJoint>LFinger11</mimicJoint>
      <multiplier>-0.785398163398</multiplier>
      <offset>0.785398163398</offset>
    </plugin>
    <plugin filename="libroboticsgroup_gazebo_mimic_joint_plugin.so" name="mimic_LFinger12">
      <joint>LHand</joint>
      <mimicJoint>LFinger12</mimicJoint>
      <multiplier>-0.785398163398</multiplier>
      <offset>0.785398163398</offset>
    </plugin>
    <plugin filename="libroboticsgroup_gazebo_mimic_joint_plugin.so" name="mimic_LFinger13">
      <joint>LHand</joint>
      <mimicJoint>LFinger13</mimicJoint>
      <multiplier>-0.785398163398</multiplier>
      <offset>0.785398163398</offset>
    </plugin>
    <plugin filename="libroboticsgroup_gazebo_mimic_joint_plugin.so" name="mimic_LFinger21">
      <joint>LHand</joint>
      <mimicJoint>LFinger21</mimicJoint>
      <multiplier>-0.785398163398</multiplier>
      <offset>0.785398163398</offset>
    </plugin>
    <plugin filename="libroboticsgroup_gazebo_mimic_joint_plugin.so" name="mimic_LFinger22">
      <joint>LHand</joint>
      <mimicJoint>LFinger22</mimicJoint>
      <multiplier>-0.785398163398</multiplier>
      <offset>0.785398163398</offset>
    </plugin>
    <plugin filename="libroboticsgroup_gazebo_mimic_joint_plugin.so" name="mimic_LFinger23">
      <joint>LHand</joint>
      <mimicJoint>LFinger23</mimicJoint>
      <multiplier>-0.785398163398</multiplier>
      <offset>0.785398163398</offset>
    </plugin>
    <plugin filename="libroboticsgroup_gazebo_mimic_joint_plugin.so" name="mimic_RFinger11">
      <joint>RHand</joint>
      <mimicJoint>RFinger11</mimicJoint>
      <multiplier>-0.785398163398</multiplier>
      <offset>0.785398163398</offset>
    </plugin>
    <plugin filename="libroboticsgroup_gazebo_mimic_joint_plugin.so" name="mimic_RFinger12">
      <joint>RHand</joint>
      <mimicJoint>RFinger12</mimicJoint>
      <multiplier>-0.785398163398</multiplier>
      <offset>0.785398163398</offset>
    </plugin>
    <plugin filename="libroboticsgroup_gazebo_mimic_joint_plugin.so" name="mimic_RFinger13">
      <joint>RHand</joint>
      <mimicJoint>RFinger13</mimicJoint>
      <multiplier>-0.785398163398</multiplier>
      <offset>0.785398163398</offset>
    </plugin>
    <plugin filename="libroboticsgroup_gazebo_mimic_joint_plugin.so" name="mimic_RFinger21">
      <joint>RHand</joint>
      <mimicJoint>RFinger21</mimicJoint>
      <multiplier>-0.785398163398</multiplier>
      <offset>0.785398163398</offset>
    </plugin>
    <plugin filename="libroboticsgroup_gazebo_mimic_joint_plugin.so" name="mimic_RFinger22">
      <joint>RHand</joint>
      <mimicJoint>RFinger22</mimicJoint>
      <multiplier>-0.785398163398</multiplier>
      <offset>0.785398163398</offset>
    </plugin>
    <plugin filename="libroboticsgroup_gazebo_mimic_joint_plugin.so" name="mimic_RFinger23">
      <joint>RHand</joint>
      <mimicJoint>RFinger23</mimicJoint>
      <multiplier>-0.785398163398</multiplier>
      <offset>0.785398163398</offset>
    </plugin>
    <plugin filename="libroboticsgroup_gazebo_mimic_joint_plugin.so" name="LThumb1">
      <joint>LHand</joint>
      <mimicJoint>LThumb1</mimicJoint>
      <multiplier>-0.785398163398</multiplier>
      <offset>0.785398163398</offset>
    </plugin>
    <plugin filename="libroboticsgroup_gazebo_mimic_joint_plugin.so" name="LThumb2">
      <joint>LHand</joint>
      <mimicJoint>LThumb2</mimicJoint>
      <multiplier>-0.785398163398</multiplier>
      <offset>0.785398163398</offset>
    </plugin>
    <plugin filename="libroboticsgroup_gazebo_mimic_joint_plugin.so" name="RThumb1">
      <joint>RHand</joint>
      <mimicJoint>RThumb1</mimicJoint>
      <multiplier>-0.785398163398</multiplier>
      <offset>0.785398163398</offset>
    </plugin>
    <plugin filename="libroboticsgroup_gazebo_mimic_joint_plugin.so" name="RThumb2">
      <joint>RHand</joint>
      <mimicJoint>RThumb2</mimicJoint>
      <multiplier>-0.785398163398</multiplier>
      <offset>0.785398163398</offset>
    </plugin>
    <plugin filename="libroboticsgroup_gazebo_disable_link_plugin.so" name="LFinger11_link">
      <link>LFinger11_link</link>
    </plugin>
    <plugin filename="libroboticsgroup_gazebo_disable_link_plugin.so" name="LFinger12_link">
      <link>LFinger12_link</link>
    </plugin>
    <plugin filename="libroboticsgroup_gazebo_disable_link_plugin.so" name="LFinger13_link">
      <link>LFinger13_link</link>
    </plugin>
    <plugin filename="libroboticsgroup_gazebo_disable_link_plugin.so" name="LFinger21_link">
      <link>LFinger21_link</link>
    </plugin>
    <plugin filename="libroboticsgroup_gazebo_disable_link_plugin.so" name="LFinger22_link">
      <link>LFinger22_link</link>
    </plugin>
    <plugin filename="libroboticsgroup_gazebo_disable_link_plugin.so" name="LFinger23_link">
      <link>LFinger23_link</link>
    </plugin>
    <plugin filename="libroboticsgroup_gazebo_disable_link_plugin.so" name="LThumb1_link">
      <link>LThumb1_link</link>
    </plugin>
    <plugin filename="libroboticsgroup_gazebo_disable_link_plugin.so" name="LThumb2_link">
      <link>LThumb2_link</link>
    </plugin>
    <plugin filename="libroboticsgroup_gazebo_disable_link_plugin.so" name="l_gripper">
      <link>l_gripper</link>
    </plugin>
    <plugin filename="libroboticsgroup_gazebo_disable_link_plugin.so" name="RFinger11_link">
      <link>RFinger11_link</link>
    </plugin>
    <plugin filename="libroboticsgroup_gazebo_disable_link_plugin.so" name="RFinger12_link">
      <link>RFinger12_link</link>
    </plugin>
    <plugin filename="libroboticsgroup_gazebo_disable_link_plugin.so" name="RFinger13_link">
      <link>RFinger13_link</link>
    </plugin>
    <plugin filename="libroboticsgroup_gazebo_disable_link_plugin.so" name="RFinger21_link">
      <link>RFinger21_link</link>
    </plugin>
    <plugin filename="libroboticsgroup_gazebo_disable_link_plugin.so" name="RFinger22_link">
      <link>RFinger22_link</link>
    </plugin>
    <plugin filename="libroboticsgroup_gazebo_disable_link_plugin.so" name="RFinger23_link">
      <link>RFinger23_link</link>
    </plugin>
    <plugin filename="libroboticsgroup_gazebo_disable_link_plugin.so" name="RThumb1_link">
      <link>RThumb1_link</link>
    </plugin>
    <plugin filename="libroboticsgroup_gazebo_disable_link_plugin.so" name="RThumb2_link">
      <link>RThumb2_link</link>
    </plugin>
    <plugin filename="libroboticsgroup_gazebo_disable_link_plugin.so" name="r_gripper">
      <link>r_gripper</link>
    </plugin>
  </gazebo>
  <!-- END OF GAZEBO ROS CONTROL PLUGIN -->
  <!-- GAZEBO MATERIALS -->
  <gazebo reference="torso">
    <mu1>0.5</mu1>
    <mu2>0.5</mu2>
    <selfCollide>false</selfCollide>
    <turnGravityOff>false</turnGravityOff>
  </gazebo>
  <gazebo reference="Neck">
    <mu1>0.5</mu1>
    <mu2>0.5</mu2>
    <selfCollide>false</selfCollide>
    <turnGravityOff>false</turnGravityOff>
  </gazebo>
  <gazebo reference="Head">
    <mu1>0.5</mu1>
    <mu2>0.5</mu2>
    <selfCollide>false</selfCollide>
    <turnGravityOff>false</turnGravityOff>
  </gazebo>
  <gazebo reference="gaze">
    <mu1>0.5</mu1>
    <mu2>0.5</mu2>
    <selfCollide>false</selfCollide>
    <turnGravityOff>false</turnGravityOff>
  </gazebo>
  <!--    <gazebo reference="LShoulderDummy">
        <mu1>0.5</mu1>
        <mu2>0.5</mu2>
        <selfCollide>false</selfCollide>
        <turnGravityOff>false</turnGravityOff>
    </gazebo> 
    <gazebo reference="RShoulderDummy">
        <mu1>0.5</mu1>
        <mu2>0.5</mu2>
        <selfCollide>false</selfCollide>
        <turnGravityOff>false</turnGravityOff>
    </gazebo> -->
  <!-- ARMS -->
  <gazebo reference="LShoulder">
    <mu1>0.5</mu1>
    <mu2>0.5</mu2>
    <selfCollide>false</selfCollide>
    <turnGravityOff>false</turnGravityOff>
  </gazebo>
  <gazebo reference="LBicep">
    <mu1>0.5</mu1>
    <mu2>0.5</mu2>
    <selfCollide>false</selfCollide>
    <turnGravityOff>false</turnGravityOff>
  </gazebo>
  <gazebo reference="LElbow">
    <mu1>0.5</mu1>
    <mu2>0.5</mu2>
    <selfCollide>false</selfCollide>
    <turnGravityOff>false</turnGravityOff>
  </gazebo>
  <gazebo reference="LForeArm">
    <mu1>0.5</mu1>
    <mu2>0.5</mu2>
    <selfCollide>false</selfCollide>
    <turnGravityOff>false</turnGravityOff>
  </gazebo>
  <gazebo reference="l_wrist">
    <mu1>0.5</mu1>
    <mu2>0.5</mu2>
    <selfCollide>false</selfCollide>
    <turnGravityOff>false</turnGravityOff>
  </gazebo>
  <gazebo reference="l_gripper">
    <mu1>0.5</mu1>
    <mu2>0.5</mu2>
    <selfCollide>false</selfCollide>
    <turnGravityOff>true</turnGravityOff>
  </gazebo>
  <gazebo reference="RShoulder">
    <mu1>0.5</mu1>
    <mu2>0.5</mu2>
    <selfCollide>false</selfCollide>
    <turnGravityOff>false</turnGravityOff>
  </gazebo>
  <gazebo reference="RBicep">
    <mu1>0.5</mu1>
    <mu2>0.5</mu2>
    <selfCollide>false</selfCollide>
    <turnGravityOff>false</turnGravityOff>
  </gazebo>
  <gazebo reference="RElbow">
    <mu1>0.5</mu1>
    <mu2>0.5</mu2>
    <selfCollide>false</selfCollide>
    <turnGravityOff>false</turnGravityOff>
  </gazebo>
  <gazebo reference="RForeArm">
    <mu1>0.5</mu1>
    <mu2>0.5</mu2>
    <selfCollide>false</selfCollide>
    <turnGravityOff>false</turnGravityOff>
  </gazebo>
  <gazebo reference="r_wrist">
    <mu1>0.5</mu1>
    <mu2>0.5</mu2>
    <selfCollide>false</selfCollide>
    <turnGravityOff>false</turnGravityOff>
  </gazebo>
  <gazebo reference="r_gripper">
    <mu1>0.5</mu1>
    <mu2>0.5</mu2>
    <selfCollide>false</selfCollide>
    <turnGravityOff>true</turnGravityOff>
  </gazebo>
  <!--    <gazebo reference="LElbowDummy">
        <mu1>0.5</mu1>
        <mu2>0.5</mu2>
        <selfCollide>false</selfCollide>
        <turnGravityOff>false</turnGravityOff>
    </gazebo>
-->
  <gazebo reference="LFinger11_link">
    <mu1>0.5</mu1>
    <mu2>0.5</mu2>
    <selfCollide>false</selfCollide>
    <turnGravityOff>true</turnGravityOff>
  </gazebo>
  <gazebo reference="LFinger12_link">
    <mu1>0.5</mu1>
    <mu2>0.5</mu2>
    <selfCollide>false</selfCollide>
    <turnGravityOff>true</turnGravityOff>
  </gazebo>
  <gazebo reference="LFinger13_link">
    <mu1>0.5</mu1>
    <mu2>0.5</mu2>
    <selfCollide>false</selfCollide>
    <turnGravityOff>true</turnGravityOff>
  </gazebo>
  <gazebo reference="LFinger21_link">
    <mu1>0.5</mu1>
    <mu2>0.5</mu2>
    <selfCollide>false</selfCollide>
    <turnGravityOff>true</turnGravityOff>
  </gazebo>
  <gazebo reference="LFinger22_link">
    <mu1>0.5</mu1>
    <mu2>0.5</mu2>
    <selfCollide>false</selfCollide>
    <turnGravityOff>true</turnGravityOff>
  </gazebo>
  <gazebo reference="LFinger23_link">
    <mu1>0.5</mu1>
    <mu2>0.5</mu2>
    <selfCollide>false</selfCollide>
    <turnGravityOff>true</turnGravityOff>
  </gazebo>
  <gazebo reference="LThumb1_link">
    <mu1>0.5</mu1>
    <mu2>0.5</mu2>
    <selfCollide>false</selfCollide>
    <turnGravityOff>true</turnGravityOff>
  </gazebo>
  <gazebo reference="LThumb2_link">
    <mu1>0.5</mu1>
    <mu2>0.5</mu2>
    <selfCollide>false</selfCollide>
    <turnGravityOff>true</turnGravityOff>
  </gazebo>
  <gazebo reference="LPelvis">
    <mu1>0.5</mu1>
    <mu2>0.5</mu2>
    <selfCollide>false</selfCollide>
    <turnGravityOff>false</turnGravityOff>
  </gazebo>
  <gazebo reference="LHip">
    <mu1>0.5</mu1>
    <mu2>0.5</mu2>
    <selfCollide>false</selfCollide>
    <turnGravityOff>false</turnGravityOff>
  </gazebo>
  <gazebo reference="LThigh">
    <mu1>0.5</mu1>
    <mu2>0.5</mu2>
    <selfCollide>false</selfCollide>
    <turnGravityOff>false</turnGravityOff>
  </gazebo>
  <gazebo reference="LTibia">
    <mu1>0.5</mu1>
    <mu2>0.5</mu2>
    <selfCollide>false</selfCollide>
    <turnGravityOff>false</turnGravityOff>
  </gazebo>
  <gazebo reference="LAnklePitch">
    <mu1>0.5</mu1>
    <mu2>0.5</mu2>
    <selfCollide>false</selfCollide>
    <turnGravityOff>false</turnGravityOff>
  </gazebo>
  <gazebo reference="l_ankle">
    <mu1>0.5</mu1>
    <mu2>0.5</mu2>
    <selfCollide>false</selfCollide>
    <turnGravityOff>false</turnGravityOff>
    <fdir1>1 0 0</fdir1>
    <maxVel>0.1</maxVel>
    <minDepth>0.003</minDepth>
  </gazebo>
  <gazebo reference="RPelvis">
    <mu1>0.5</mu1>
    <mu2>0.5</mu2>
    <selfCollide>false</selfCollide>
    <turnGravityOff>false</turnGravityOff>
  </gazebo>
  <gazebo reference="RHip">
    <mu1>0.5</mu1>
    <mu2>0.5</mu2>
    <selfCollide>false</selfCollide>
    <turnGravityOff>false</turnGravityOff>
  </gazebo>
  <gazebo reference="RThigh">
    <mu1>0.5</mu1>
    <mu2>0.5</mu2>
    <selfCollide>false</selfCollide>
    <turnGravityOff>false</turnGravityOff>
  </gazebo>
  <gazebo reference="RTibia">
    <mu1>0.5</mu1>
    <mu2>0.5</mu2>
    <selfCollide>false</selfCollide>
    <turnGravityOff>false</turnGravityOff>
  </gazebo>
  <gazebo reference="RAnklePitch">
    <mu1>0.5</mu1>
    <mu2>0.5</mu2>
    <selfCollide>false</selfCollide>
    <turnGravityOff>false</turnGravityOff>
  </gazebo>
  <gazebo reference="r_ankle">
    <mu1>0.5</mu1>
    <mu2>0.5</mu2>
    <selfCollide>false</selfCollide>
    <turnGravityOff>false</turnGravityOff>
    <fdir1>1 0 0</fdir1>
    <maxVel>0.1</maxVel>
    <minDepth>0.003</minDepth>
  </gazebo>
  <gazebo reference="RFinger11_link">
    <mu1>0.5</mu1>
    <mu2>0.5</mu2>
    <selfCollide>false</selfCollide>
    <turnGravityOff>true</turnGravityOff>
  </gazebo>
  <gazebo reference="RFinger12_link">
    <mu1>0.5</mu1>
    <mu2>0.5</mu2>
    <selfCollide>false</selfCollide>
    <turnGravityOff>true</turnGravityOff>
  </gazebo>
  <gazebo reference="RFinger13_link">
    <mu1>0.5</mu1>
    <mu2>0.5</mu2>
    <selfCollide>false</selfCollide>
    <turnGravityOff>true</turnGravityOff>
  </gazebo>
  <gazebo reference="RFinger21_link">
    <mu1>0.5</mu1>
    <mu2>0.5</mu2>
    <selfCollide>false</selfCollide>
    <turnGravityOff>true</turnGravityOff>
  </gazebo>
  <gazebo reference="RFinger22_link">
    <mu1>0.5</mu1>
    <mu2>0.5</mu2>
    <selfCollide>false</selfCollide>
    <turnGravityOff>true</turnGravityOff>
  </gazebo>
  <gazebo reference="RFinger23_link">
    <mu1>0.5</mu1>
    <mu2>0.5</mu2>
    <selfCollide>false</selfCollide>
    <turnGravityOff>true</turnGravityOff>
  </gazebo>
  <gazebo reference="RThumb1_link">
    <mu1>0.5</mu1>
    <mu2>0.5</mu2>
    <selfCollide>false</selfCollide>
    <turnGravityOff>true</turnGravityOff>
  </gazebo>
  <gazebo reference="RThumb2_link">
    <mu1>0.5</mu1>
    <mu2>0.5</mu2>
    <selfCollide>false</selfCollide>
    <turnGravityOff>true</turnGravityOff>
  </gazebo>
  <!--

        RGB CAMERAS: Working
-->
  <gazebo reference="CameraTop_frame">
    <sensor name="CameraTop" type="camera">
      <update_rate>5.0</update_rate>
      <camera name="camera_top">
        <horizontal_fov>1.06290551</horizontal_fov>
        <image>
          <width>640</width>
          <height>480</height>
          <format>R8G8B8</format>
        </image>
        <clip>
          <near>0.3</near>
          <far>500</far>
        </clip>
        <noise>
          <type>gaussian</type>
          <mean>0.0</mean>
          <stddev>0.007</stddev>
        </noise>
      </camera>
      <plugin filename="libgazebo_ros_camera.so" name="camera_controller">
        <robotNamespace>nao_robot</robotNamespace>
        <alwaysOn>true</alwaysOn>
        <updateRate>5.0</updateRate>
        <cameraName>camera/top</cameraName>
        <imageTopicName>image_raw</imageTopicName>
        <cameraInfoTopicName>camera_info</cameraInfoTopicName>
        <frameName>CameraTop_optical_frame</frameName>
        <hackBaseline>0.07</hackBaseline>
        <distortionK1>-0.0545211</distortionK1>
        <distortionK2>0.06919734</distortionK2>
        <distortionK3>-0.0241095</distortionK3>
        <distortionT1>-0.0112245</distortionT1>
        <distortionT2>0.0</distortionT2>
      </plugin>
    </sensor>
  </gazebo>
  <gazebo reference="CameraBottom_frame">
    <sensor name="CameraBottom" type="camera">
      <update_rate>5.0</update_rate>
      <camera name="camera_bottom">
        <horizontal_fov>1.06290551</horizontal_fov>
        <image>
          <width>640</width>
          <height>480</height>
          <format>R8G8B8</format>
        </image>
        <clip>
          <near>0.05</near>
          <far>500</far>
        </clip>
        <noise>
          <type>gaussian</type>
          <mean>0.0</mean>
          <stddev>0.007</stddev>
        </noise>
      </camera>
      <plugin filename="libgazebo_ros_camera.so" name="camera_controller">
        <robotNamespace>/nao_robot</robotNamespace>
        <alwaysOn>true</alwaysOn>
        <updateRate>5.0</updateRate>
        <cameraName>camera_bottom</cameraName>
        <imageTopicName>image_raw</imageTopicName>
        <cameraInfoTopicName>camera_info</cameraInfoTopicName>
        <frameName>CameraBottom_optical_frame</frameName>
        <hackBaseline>0.07</hackBaseline>
        <distortionK1>-0.0648764</distortionK1>
        <distortionK2>0.06125202</distortionK2>
        <distortionK3>0.00382815</distortionK3>
        <distortionT1>-0.00551104</distortionT1>
        <distortionT2>0.0</distortionT2>
      </plugin>
    </sensor>
  </gazebo>
  <gazebo reference="RFsrFL_frame">
    <mu1>0.5</mu1>
    <mu2>0.5</mu2>
    <selfCollide>false</selfCollide>
    <turnGravityOff>false</turnGravityOff>
    <fdir1>1 0 0</fdir1>
    <maxVel>0.1</maxVel>
    <minDepth>0.003</minDepth>
    <sensor name="RFsrFL" type="contact">
      <always_on>1</always_on>
      <update_rate>20</update_rate>
      <visualize>false</visualize>
      <contact>
        <collision>RFsrFL_frame_collision</collision>
        <type>bumper</type>
        <geometry>
          <box size="0.01 0.01 0.005"/>
        </geometry>
        <origin rpy="0 0 0" xyz="0 0 0"/>
      </contact>
      <plugin filename="libgazebo_ros_bumper.so" name="gazebo_nao_RFsrFL">
        <robotNamespace>nao_robot</robotNamespace>
        <alwaysOn>true</alwaysOn>
        <bumperTopicName>FSR/RFoot/FrontLeft</bumperTopicName>
        <frameName>RFsrFL_frame</frameName>
      </plugin>
    </sensor>
  </gazebo>
  <gazebo reference="RFsrFR_frame">
    <mu1>0.5</mu1>
    <mu2>0.5</mu2>
    <selfCollide>false</selfCollide>
    <turnGravityOff>false</turnGravityOff>
    <fdir1>1 0 0</fdir1>
    <maxVel>0.1</maxVel>
    <minDepth>0.003</minDepth>
    <sensor name="RFsrFR" type="contact">
      <always_on>1</always_on>
      <update_rate>20</update_rate>
      <visualize>false</visualize>
      <contact>
        <collision>RFsrFR_frame_collision</collision>
        <type>bumper</type>
        <geometry>
          <box size="0.01 0.01 0.005"/>
        </geometry>
        <origin rpy="0 0 0" xyz="0 0 0"/>
      </contact>
      <plugin filename="libgazebo_ros_bumper.so" name="gazebo_nao_RFsrFR">
        <robotNamespace>nao_robot</robotNamespace>
        <alwaysOn>true</alwaysOn>
        <bumperTopicName>FSR/RFoot/FrontRight</bumperTopicName>
        <frameName>RFsrFR_frame</frameName>
      </plugin>
    </sensor>
  </gazebo>
  <gazebo reference="RFsrRL_frame">
    <mu1>0.5</mu1>
    <mu2>0.5</mu2>
    <selfCollide>false</selfCollide>
    <turnGravityOff>false</turnGravityOff>
    <fdir1>1 0 0</fdir1>
    <maxVel>0.1</maxVel>
    <minDepth>0.003</minDepth>
    <sensor name="RFsrRL" type="contact">
      <always_on>1</always_on>
      <update_rate>20</update_rate>
      <visualize>false</visualize>
      <contact>
        <collision>RFsrRL_frame_collision</collision>
        <type>bumper</type>
        <geometry>
          <box size="0.01 0.01 0.005"/>
        </geometry>
        <origin rpy="0 0 0" xyz="0 0 0"/>
      </contact>
      <plugin filename="libgazebo_ros_bumper.so" name="gazebo_nao_RFsrRL">
        <robotNamespace>nao_robot</robotNamespace>
        <alwaysOn>true</alwaysOn>
        <bumperTopicName>FSR/RFoot/RearLeft</bumperTopicName>
        <frameName>RFsrRL_frame</frameName>
      </plugin>
    </sensor>
  </gazebo>
  <gazebo reference="RFsrRR_frame">
    <mu1>0.5</mu1>
    <mu2>0.5</mu2>
    <selfCollide>false</selfCollide>
    <turnGravityOff>false</turnGravityOff>
    <fdir1>1 0 0</fdir1>
    <maxVel>0.1</maxVel>
    <minDepth>0.003</minDepth>
    <sensor name="RFsrRR" type="contact">
      <always_on>1</always_on>
      <update_rate>20</update_rate>
      <visualize>false</visualize>
      <contact>
        <collision>RFsrRR_frame_collision</collision>
        <type>bumper</type>
        <geometry>
          <box size="0.01 0.01 0.005"/>
        </geometry>
        <origin rpy="0 0 0" xyz="0 0 0"/>
      </contact>
      <plugin filename="libgazebo_ros_bumper.so" name="gazebo_nao_RFsrRR">
        <robotNamespace>nao_robot</robotNamespace>
        <alwaysOn>true</alwaysOn>
        <bumperTopicName>FSR/RFoot/RearRight</bumperTopicName>
        <frameName>RFsrRR_frame</frameName>
      </plugin>
    </sensor>
  </gazebo>
  <gazebo reference="LFsrFL_frame">
    <mu1>0.5</mu1>
    <mu2>0.5</mu2>
    <selfCollide>false</selfCollide>
    <turnGravityOff>false</turnGravityOff>
    <fdir1>1 0 0</fdir1>
    <maxVel>0.1</maxVel>
    <minDepth>0.003</minDepth>
    <sensor name="LFsrFL" type="contact">
      <always_on>1</always_on>
      <update_rate>20</update_rate>
      <visualize>false</visualize>
      <contact>
        <collision>LFsrFL_frame_collision</collision>
        <type>bumper</type>
        <geometry>
          <box size="0.01 0.01 0.005"/>
        </geometry>
        <origin rpy="0 0 0" xyz="0 0 0"/>
      </contact>
      <plugin filename="libgazebo_ros_bumper.so" name="gazebo_nao_LFsrFL">
        <robotNamespace>nao_robot</robotNamespace>
        <alwaysOn>true</alwaysOn>
        <bumperTopicName>FSR/LFoot/FrontLeft</bumperTopicName>
        <frameName>RFsrFL_frame</frameName>
      </plugin>
    </sensor>
  </gazebo>
  <gazebo reference="LFsrFR_frame">
    <mu1>0.5</mu1>
    <mu2>0.5</mu2>
    <selfCollide>false</selfCollide>
    <turnGravityOff>false</turnGravityOff>
    <fdir1>1 0 0</fdir1>
    <maxVel>0.1</maxVel>
    <minDepth>0.003</minDepth>
    <sensor name="LFsrFR" type="contact">
      <always_on>1</always_on>
      <update_rate>20</update_rate>
      <visualize>false</visualize>
      <contact>
        <collision>LFsrFR_frame_collision</collision>
        <type>bumper</type>
        <geometry>
          <box size="0.01 0.01 0.005"/>
        </geometry>
        <origin rpy="0 0 0" xyz="0 0 0"/>
      </contact>
      <plugin filename="libgazebo_ros_bumper.so" name="gazebo_nao_ros_bumper">
        <robotNamespace>nao_robot</robotNamespace>
        <alwaysOn>true</alwaysOn>
        <bumperTopicName>FSR/LFoot/FrontRight</bumperTopicName>
        <frameName>LFsrFR_frame</frameName>
      </plugin>
    </sensor>
  </gazebo>
  <gazebo reference="LFsrRL_frame">
    <mu1>0.5</mu1>
    <mu2>0.5</mu2>
    <selfCollide>false</selfCollide>
    <turnGravityOff>false</turnGravityOff>
    <fdir1>1 0 0</fdir1>
    <maxVel>0.1</maxVel>
    <minDepth>0.003</minDepth>
    <sensor name="LFsrRL" type="contact">
      <always_on>1</always_on>
      <update_rate>20</update_rate>
      <visualize>false</visualize>
      <contact>
        <collision>LFsrRL_frame_collision</collision>
        <type>force</type>
        <geometry>
          <box size="0.01 0.01 0.005"/>
        </geometry>
        <origin rpy="0 0 0" xyz="0 0 0"/>
      </contact>
      <plugin filename="libgazebo_ros_bumper.so" name="gazebo_nao_ros_bumper">
        <robotNamespace>nao_robot</robotNamespace>
        <alwaysOn>true</alwaysOn>
        <bumperTopicName>FSR/LFoot/RearLeft</bumperTopicName>
        <frameName>LFsrRL_frame</frameName>
      </plugin>
    </sensor>
  </gazebo>
  <gazebo reference="LFsrRR_frame">
    <mu1>0.5</mu1>
    <mu2>0.5</mu2>
    <selfCollide>false</selfCollide>
    <turnGravityOff>false</turnGravityOff>
    <fdir1>1 0 0</fdir1>
    <maxVel>0.1</maxVel>
    <minDepth>0.003</minDepth>
    <sensor name="LFsrRR" type="contact">
      <always_on>1</always_on>
      <update_rate>20</update_rate>
      <visualize>false</visualize>
      <contact>
        <collision>LFsrRR_frame_collision</collision>
        <type>force-3d</type>
        <geometry>
          <box size="0.01 0.01 0.005"/>
        </geometry>
        <origin rpy="0 0 0" xyz="0 0 0"/>
      </contact>
      <plugin filename="libgazebo_ros_bumper.so" name="gazebo_nao_ros_bumper">
        <robotNamespace>nao_robot</robotNamespace>
        <alwaysOn>true</alwaysOn>
        <bumperTopicName>FSR/LFoot/RearRight</bumperTopicName>
        <frameName>LFsrRR_frame</frameName>
      </plugin>
    </sensor>
  </gazebo>
  <!--
    Sonars
-->
  <gazebo reference="LSonar_frame">
    <sensor name="LSonar" type="ray">
      <pose>0 0 0 0 0 0</pose>
      <update_rate>20</update_rate>
      <visualize>false</visualize>
      <ray>
        <radiation_type>ultrasound</radiation_type>
        <scan>
          <horizontal>
            <samples>5</samples>
            <resolution>1</resolution>
            <min_angle>-0.2617993877991494</min_angle>
            <max_angle>0.2617993877991494</max_angle>
            <!--
          <min_angle>-0.10</min_angle>
          <max_angle>0.10</max_angle> 
-->
          </horizontal>
          <vertical>
            <samples>5</samples>
            <resolution>1</resolution>
            <min_angle>-0.13</min_angle>
            <max_angle>0.13</max_angle>
            <!--
          <min_angle>-0.2617993877991494</min_angle>
          <max_angle>0.2617993877991494</max_angle> 
-->
          </vertical>
        </scan>
        <range>
          <min>0.025</min>
          <max>2.55</max>
          <resolution>1</resolution>
        </range>
      </ray>
      <plugin filename="libgazebo_ros_range.so" name="gazebo_ros_range">
        <robotNamespace>nao_robot</robotNamespace>
        <gaussianNoise>0.05</gaussianNoise>
        <alwaysOn>true</alwaysOn>
        <updateRate>20</updateRate>
        <topicName>sonar_left</topicName>
        <frameName>LSonar_frame</frameName>
        <minRange>0.025</minRange>
        <maxRange>2.55</maxRange>
        <fov>0.5235987755982988</fov>
        <!--      <fov>0.1</fov> -->
        <radiation>ultrasound</radiation>
      </plugin>
    </sensor>
  </gazebo>
  <gazebo reference="RSonar_frame">
    <sensor name="RSonar" type="ray">
      <pose>0 0 0 0 0 0</pose>
      <update_rate>20</update_rate>
      <visualize>false</visualize>
      <ray>
        <radiation_type>ultrasound</radiation_type>
        <scan>
          <horizontal>
            <samples>5</samples>
            <resolution>1</resolution>
            <min_angle>-0.2617993877991494</min_angle>
            <max_angle>0.2617993877991494</max_angle>
          </horizontal>
          <vertical>
            <samples>5</samples>
            <resolution>1</resolution>
            <min_angle>-0.13</min_angle>
            <max_angle>0.13</max_angle>
          </vertical>
        </scan>
        <range>
          <min>0.025</min>
          <max>2.55</max>
          <resolution>1</resolution>
        </range>
      </ray>
      <plugin filename="libgazebo_ros_range.so" name="gazebo_ros_range">
        <robotNamespace>nao_robot</robotNamespace>
        <gaussianNoise>0.05</gaussianNoise>
        <alwaysOn>true</alwaysOn>
        <updateRate>20</updateRate>
        <topicName>sonar_right</topicName>
        <frameName>RSonar_frame</frameName>
        <minRange>0.025</minRange>
        <maxRange>2.55</maxRange>
        <fov>0.5235987755982988</fov>
        <radiation>ultrasound</radiation>
      </plugin>
    </sensor>
  </gazebo>
  <!-- HEAD -->
  <transmission name="HeadYaw_Transmission">
    <type>transmission_interface/SimpleTransmission</type>
    <joint name="HeadYaw">
      <hardwareInterface>PositionJointInterface</hardwareInterface>
    </joint>
    <actuator name="HeadYaw_Motor">
      <!-- Dummy Values -->
      <hardwareInterface>PositionJointInterface</hardwareInterface>
      <mechanicalReduction>150.27</mechanicalReduction>
    </actuator>
  </transmission>
  <transmission name="HeadPitch_Transmission">
    <type>transmission_interface/SimpleTransmission</type>
    <joint name="HeadPitch">
      <hardwareInterface>PositionJointInterface</hardwareInterface>
    </joint>
    <actuator name="HeadPitch_Motor">
      <!-- Dummy Values -->
      <hardwareInterface>PositionJointInterface</hardwareInterface>
      <mechanicalReduction>173.22</mechanicalReduction>
    </actuator>
  </transmission>
  <transmission name="LShoulderPitch_Transmission">
    <type>transmission_interface/SimpleTransmission</type>
    <joint name="LShoulderPitch">
      <hardwareInterface>PositionJointInterface</hardwareInterface>
    </joint>
    <actuator name="LShoulderPitch_Motor">
      <hardwareInterface>PositionJointInterface</hardwareInterface>
      <mechanicalReduction>150.27</mechanicalReduction>
    </actuator>
  </transmission>
  <transmission name="LShoulderRoll_Transmission">
    <type>transmission_interface/SimpleTransmission</type>
    <joint name="LShoulderRoll">
      <hardwareInterface>PositionJointInterface</hardwareInterface>
    </joint>
    <actuator name="LShoulderRoll_Motor">
      <hardwareInterface>PositionJointInterface</hardwareInterface>
      <mechanicalReduction>173.22</mechanicalReduction>
    </actuator>
  </transmission>
  <transmission name="LElbowYaw_Transmission">
    <type>transmission_interface/SimpleTransmission</type>
    <joint name="LElbowYaw">
      <hardwareInterface>PositionJointInterface</hardwareInterface>
    </joint>
    <actuator name="LElbowYaw_Motor">
      <hardwareInterface>PositionJointInterface</hardwareInterface>
      <mechanicalReduction>150.27</mechanicalReduction>
    </actuator>
  </transmission>
  <transmission name="LElbowRoll_Transmission">
    <type>transmission_interface/SimpleTransmission</type>
    <joint name="LElbowRoll">
      <hardwareInterface>PositionJointInterface</hardwareInterface>
    </joint>
    <actuator name="LElbowRoll_Motor">
      <hardwareInterface>PositionJointInterface</hardwareInterface>
      <mechanicalReduction>173.22</mechanicalReduction>
    </actuator>
  </transmission>
  <transmission name="LWristYaw_Transmission">
    <type>transmission_interface/SimpleTransmission</type>
    <joint name="LWristYaw">
      <hardwareInterface>PositionJointInterface</hardwareInterface>
    </joint>
    <actuator name="LWristYaw_Motor">
      <hardwareInterface>PositionJointInterface</hardwareInterface>
      <mechanicalReduction>50.61</mechanicalReduction>
    </actuator>
  </transmission>
  <transmission name="LHand_Transmission">
    <type>transmission_interface/SimpleTransmission</type>
    <joint name="LHand">
      <hardwareInterface>PositionJointInterface</hardwareInterface>
    </joint>
    <actuator name="LHand_Motor">
      <hardwareInterface>PositionJointInterface</hardwareInterface>
      <mechanicalReduction>36.24</mechanicalReduction>
    </actuator>
  </transmission>
  <transmission name="RShoulderPitch_Transmission">
    <type>transmission_interface/SimpleTransmission</type>
    <joint name="RShoulderPitch">
      <hardwareInterface>PositionJointInterface</hardwareInterface>
    </joint>
    <actuator name="RShoulderPitch_Motor">
      <hardwareInterface>PositionJointInterface</hardwareInterface>
      <mechanicalReduction>150.27</mechanicalReduction>
    </actuator>
  </transmission>
  <transmission name="RShoulderRoll_Transmission">
    <type>transmission_interface/SimpleTransmission</type>
    <joint name="RShoulderRoll">
      <hardwareInterface>PositionJointInterface</hardwareInterface>
    </joint>
    <actuator name="RShoulderRoll_Motor">
      <hardwareInterface>PositionJointInterface</hardwareInterface>
      <mechanicalReduction>173.22</mechanicalReduction>
    </actuator>
  </transmission>
  <transmission name="RElbowYaw_Transmission">
    <type>transmission_interface/SimpleTransmission</type>
    <joint name="RElbowYaw">
      <hardwareInterface>PositionJointInterface</hardwareInterface>
    </joint>
    <actuator name="RElbowYaw_Motor">
      <hardwareInterface>PositionJointInterface</hardwareInterface>
      <mechanicalReduction>150.27</mechanicalReduction>
    </actuator>
  </transmission>
  <transmission name="RElbowRoll_Transmission">
    <type>transmission_interface/SimpleTransmission</type>
    <joint name="RElbowRoll">
      <hardwareInterface>PositionJointInterface</hardwareInterface>
    </joint>
    <actuator name="RElbowRoll_Motor">
      <hardwareInterface>PositionJointInterface</hardwareInterface>
      <mechanicalReduction>173.22</mechanicalReduction>
    </actuator>
  </transmission>
  <transmission name="RWristYaw_Transmission">
    <type>transmission_interface/SimpleTransmission</type>
    <joint name="RWristYaw">
      <hardwareInterface>PositionJointInterface</hardwareInterface>
    </joint>
    <actuator name="RWristYaw_Motor">
      <hardwareInterface>PositionJointInterface</hardwareInterface>
      <mechanicalReduction>50.61</mechanicalReduction>
    </actuator>
  </transmission>
  <transmission name="RHand_Transmission">
    <type>transmission_interface/SimpleTransmission</type>
    <joint name="RHand">
      <hardwareInterface>PositionJointInterface</hardwareInterface>
    </joint>
    <actuator name="RHand_Motor">
      <hardwareInterface>PositionJointInterface</hardwareInterface>
      <mechanicalReduction>36.24</mechanicalReduction>
    </actuator>
  </transmission>
  <transmission name="LHipYawPitch_Transmission">
    <type>transmission_interface/SimpleTransmission</type>
    <joint name="LHipYawPitch">
      <hardwareInterface>PositionJointInterface</hardwareInterface>
    </joint>
    <actuator name="LHipYawPitch_Motor">
      <!-- Dummy Values -->
      <hardwareInterface>PositionJointInterface</hardwareInterface>
      <mechanicalReduction>201.3</mechanicalReduction>
    </actuator>
  </transmission>
  <transmission name="LHipRoll_Transmission">
    <type>transmission_interface/SimpleTransmission</type>
    <joint name="LHipRoll">
      <hardwareInterface>PositionJointInterface</hardwareInterface>
    </joint>
    <actuator name="LHipRoll_Motor">
      <!-- Dummy Values -->
      <hardwareInterface>PositionJointInterface</hardwareInterface>
      <mechanicalReduction>201.3</mechanicalReduction>
    </actuator>
  </transmission>
  <transmission name="LHipPitch_Transmission">
    <type>transmission_interface/SimpleTransmission</type>
    <joint name="LHipPitch">
      <hardwareInterface>PositionJointInterface</hardwareInterface>
    </joint>
    <actuator name="LHipPitch_Motor">
      <!-- Dummy Values -->
      <hardwareInterface>PositionJointInterface</hardwareInterface>
      <mechanicalReduction>130.85</mechanicalReduction>
    </actuator>
  </transmission>
  <transmission name="LKneePitch_Transmission">
    <type>transmission_interface/SimpleTransmission</type>
    <joint name="LKneePitch">
      <hardwareInterface>PositionJointInterface</hardwareInterface>
    </joint>
    <actuator name="LKneePitch_Motor">
      <!-- Dummy Values -->
      <hardwareInterface>PositionJointInterface</hardwareInterface>
      <mechanicalReduction>130.85</mechanicalReduction>
    </actuator>
  </transmission>
  <transmission name="LAnklePitch_Transmission">
    <type>transmission_interface/SimpleTransmission</type>
    <joint name="LAnklePitch">
      <hardwareInterface>PositionJointInterface</hardwareInterface>
    </joint>
    <actuator name="LAnklePitch_Motor">
      <!-- Dummy Values -->
      <hardwareInterface>PositionJointInterface</hardwareInterface>
      <mechanicalReduction>130.85</mechanicalReduction>
    </actuator>
  </transmission>
  <transmission name="LAnkleRoll_Transmission">
    <type>transmission_interface/SimpleTransmission</type>
    <joint name="LAnkleRoll">
      <hardwareInterface>PositionJointInterface</hardwareInterface>
    </joint>
    <actuator name="LAnkleRoll_Motor">
      <!-- Dummy Values -->
      <hardwareInterface>PositionJointInterface</hardwareInterface>
      <mechanicalReduction>201.3</mechanicalReduction>
    </actuator>
  </transmission>
  <transmission name="RHipYawPitch_Transmission">
    <type>transmission_interface/SimpleTransmission</type>
    <joint name="RHipYawPitch">
      <hardwareInterface>PositionJointInterface</hardwareInterface>
    </joint>
    <actuator name="RHipYawPitch_Motor">
      <!-- Dummy Values -->
      <hardwareInterface>PositionJointInterface</hardwareInterface>
      <mechanicalReduction>201.3</mechanicalReduction>
    </actuator>
  </transmission>
  <transmission name="RHipRoll_Transmission">
    <type>transmission_interface/SimpleTransmission</type>
    <joint name="RHipRoll">
      <hardwareInterface>PositionJointInterface</hardwareInterface>
    </joint>
    <actuator name="RHipRoll_Motor">
      <!-- Dummy Values -->
      <hardwareInterface>PositionJointInterface</hardwareInterface>
      <mechanicalReduction>201.3</mechanicalReduction>
    </actuator>
  </transmission>
  <transmission name="RHipPitch_Transmission">
    <type>transmission_interface/SimpleTransmission</type>
    <joint name="RHipPitch">
      <hardwareInterface>PositionJointInterface</hardwareInterface>
    </joint>
    <actuator name="RHipPitch_Motor">
      <!-- Dummy Values -->
      <hardwareInterface>PositionJointInterface</hardwareInterface>
      <mechanicalReduction>130.85</mechanicalReduction>
    </actuator>
  </transmission>
  <transmission name="RKneePitch_Transmission">
    <type>transmission_interface/SimpleTransmission</type>
    <joint name="RKneePitch">
      <hardwareInterface>PositionJointInterface</hardwareInterface>
    </joint>
    <actuator name="RKneePitch_Motor">
      <!-- Dummy Values -->
      <hardwareInterface>PositionJointInterface</hardwareInterface>
      <mechanicalReduction>130.85</mechanicalReduction>
    </actuator>
  </transmission>
  <transmission name="RAnklePitch_Transmission">
    <type>transmission_interface/SimpleTransmission</type>
    <joint name="RAnklePitch">
      <hardwareInterface>PositionJointInterface</hardwareInterface>
    </joint>
    <actuator name="RAnklePitch_Motor">
      <!-- Dummy Values -->
      <hardwareInterface>PositionJointInterface</hardwareInterface>
      <mechanicalReduction>130.85</mechanicalReduction>
    </actuator>
  </transmission>
  <transmission name="RAnkleRoll_Transmission">
    <type>transmission_interface/SimpleTransmission</type>
    <joint name="RAnkleRoll">
      <hardwareInterface>PositionJointInterface</hardwareInterface>
    </joint>
    <actuator name="RAnkleRoll_Motor">
      <!-- Dummy Values -->
      <hardwareInterface>PositionJointInterface</hardwareInterface>
      <mechanicalReduction>201.3</mechanicalReduction>
    </actuator>
  </transmission>
</robot>
